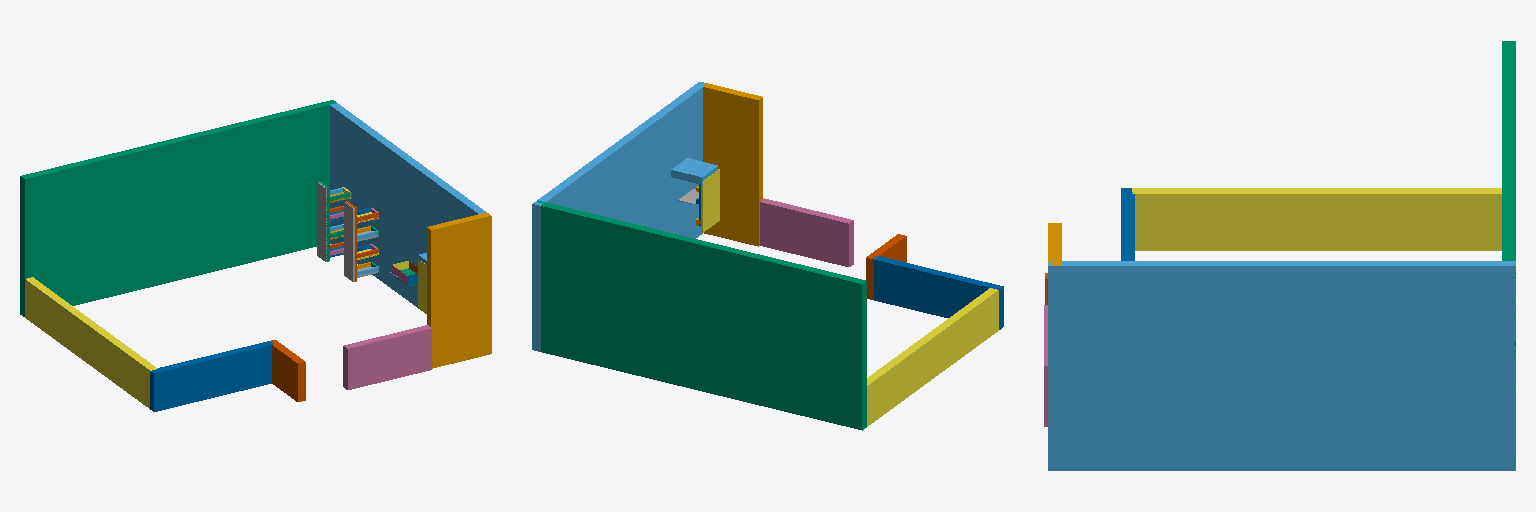
--- Facts derived from the render (not from the file) ---
3 views of the same robot in one strip: view 1: azimuth 30°, elevation 25°; view 2: azimuth 150°, elevation 25°; view 3: azimuth 270°, elevation 25° (orthographic).
Model iai_kitchen with 136 links and 135 joints (8 revolute, 16 prismatic, 111 fixed), rooted at world, posed all joints at 0.
Visible links, largest first — view 1: kitchen_wall_3, kitchen_wall_2, kitchen_wall_1, kitchen_wall_4, kitchen_wall_5, kitchen_wall_7, kitchen_wall_6, oven_area_area_right_drawer_main, oven_area_area_left_drawer_main; view 2: kitchen_wall_3, kitchen_wall_2, kitchen_wall_1, kitchen_wall_4, kitchen_wall_5, kitchen_wall_7, iai_fridge_door_block, kitchen_wall_6, iai_fridge_ceiling; view 3: kitchen_wall_2, kitchen_wall_4, kitchen_wall_3, kitchen_wall_5, kitchen_wall_1.
Link boxes in pixels (box(x1,y1,x2,y2)): kitchen_wall_3: box(20, 100, 335, 316); kitchen_wall_2: box(330, 102, 485, 313); kitchen_wall_1: box(427, 212, 491, 368); kitchen_wall_4: box(25, 277, 157, 408); kitchen_wall_5: box(150, 341, 273, 411); kitchen_wall_7: box(343, 325, 431, 389); kitchen_wall_6: box(271, 340, 305, 401); oven_area_area_right_drawer_main: box(344, 202, 354, 281); oven_area_area_left_drawer_main: box(317, 182, 326, 261); kitchen_wall_3: box(534, 200, 866, 430); kitchen_wall_2: box(532, 82, 707, 351); kitchen_wall_1: box(703, 83, 762, 246); kitchen_wall_4: box(867, 288, 998, 426); kitchen_wall_5: box(872, 256, 1003, 329); kitchen_wall_7: box(760, 198, 853, 266); iai_fridge_door_block: box(701, 169, 719, 232); kitchen_wall_6: box(866, 234, 906, 299); iai_fridge_ceiling: box(671, 158, 717, 184); kitchen_wall_2: box(1048, 261, 1515, 470); kitchen_wall_4: box(1132, 188, 1501, 250); kitchen_wall_3: box(1502, 41, 1515, 468); kitchen_wall_5: box(1121, 188, 1134, 260); kitchen_wall_1: box(1048, 223, 1061, 265).
Bounding box of the posed robot: 5.9 × 5.22 × 2.5 m (x, y, z).
0 mesh visuals loaded from 30 distinct referenced files (none loaded); not drawn: 57 (reference not matched to a file when rendering).

The robot description file, URDF, robot "iai_kitchen":
<?xml version="1.0" ?>
<!-- =================================================================================== -->
<!-- |    This document was autogenerated by xacro from [local-path]/Workspace/mujoco_ws/src/mujoco_world/iai_maps/iai_kitchen/urdf_obj/iai_kitchen_python.urdf.xacro | -->
<!-- |    EDITING THIS FILE BY HAND IS NOT RECOMMENDED                                 | -->
<!-- =================================================================================== -->
<robot name="iai_kitchen">
  <!--- FIXME THIS should NOT be here -->
  <!--
      <link name="map">
      
      <sphere_inertia radius="0" mass="0"/>
      </link>
      <iai_drawer_60_14 name="drawer_1" parent="map">
      <origin rpy="0 0 0" xyz="0 0 1"/>
      </iai_drawer_60_14>
      
      <iai_drawer_80_14 name="drawer_2" parent="map">
      <origin rpy="0 0 0" xyz="0 0 2"/>
      </iai_drawer_80_14>
      
      <iai_drawer_60_29 name="drawer_3" parent="map">
      <origin rpy="0 0 0" xyz="0 0 3"/>
      </iai_drawer_60_29>
      
      <iai_drawer_80_29 name="drawer_4" parent="map">
      <origin rpy="0 0 0" xyz="0 0 4"/>
      </iai_drawer_80_29>
      
      <iai_drawer_100_29 name="drawer_5" parent="map">
      <origin rpy="0 0 0" xyz="0 0 5"/>
      </iai_drawer_100_29>
  -->
  <!--- FIXME THIS should NOT be here -->
  <!--
  <link name="oven_footprint">
    
    <xacro:sphere_inertia radius="0" mass="0"/>
  </link>
  <iai_oven name="iai_oven" parent="oven_footprint"/>
  -->
  <!--- FIXME THIS should NOT be here -->
  <!--
      <link name="map">
      
      <sphere_inertia radius="0" mass="0"/>
      </link>
      <iai_drawer_60_14 name="drawer_1" parent="map">
      <origin rpy="0 0 0" xyz="0 0 1"/>
      </iai_drawer_60_14>
      
      <iai_drawer_80_14 name="drawer_2" parent="map">
      <origin rpy="0 0 0" xyz="0 0 2"/>
      </iai_drawer_80_14>
      
      <iai_drawer_60_29 name="drawer_3" parent="map">
      <origin rpy="0 0 0" xyz="0 0 3"/>
      </iai_drawer_60_29>
      
      <iai_drawer_80_29 name="drawer_4" parent="map">
      <origin rpy="0 0 0" xyz="0 0 4"/>
      </iai_drawer_80_29>
      
      <iai_drawer_100_29 name="drawer_5" parent="map">
      <origin rpy="0 0 0" xyz="0 0 5"/>
      </iai_drawer_100_29>
  -->
  <!--- FIXME THIS should NOT be here -->
  <!--
      <link name="map">
      
      <sphere_inertia radius="0" mass="0"/>
      </link>
      <iai_drawer_60_14 name="drawer_1" parent="map">
      <origin rpy="0 0 0" xyz="0 0 1"/>
      </iai_drawer_60_14>
      
      <iai_drawer_80_14 name="drawer_2" parent="map">
      <origin rpy="0 0 0" xyz="0 0 2"/>
      </iai_drawer_80_14>
      
      <iai_drawer_60_29 name="drawer_3" parent="map">
      <origin rpy="0 0 0" xyz="0 0 3"/>
      </iai_drawer_60_29>
      
      <iai_drawer_80_29 name="drawer_4" parent="map">
      <origin rpy="0 0 0" xyz="0 0 4"/>
      </iai_drawer_80_29>
      
      <iai_drawer_100_29 name="drawer_5" parent="map">
      <origin rpy="0 0 0" xyz="0 0 5"/>
      </iai_drawer_100_29>
  -->
  <!--- FIXME THIS should NOT be here -->
  <!--
      <link name="map">
      
      <sphere_inertia radius="0" mass="0"/>
      </link>
      <iai_drawer_60_14 name="drawer_1" parent="map">
      <origin rpy="0 0 0" xyz="0 0 1"/>
      </iai_drawer_60_14>
      
      <iai_drawer_80_14 name="drawer_2" parent="map">
      <origin rpy="0 0 0" xyz="0 0 2"/>
      </iai_drawer_80_14>
      
      <iai_drawer_60_29 name="drawer_3" parent="map">
      <origin rpy="0 0 0" xyz="0 0 3"/>
      </iai_drawer_60_29>
      
      <iai_drawer_80_29 name="drawer_4" parent="map">
      <origin rpy="0 0 0" xyz="0 0 4"/>
      </iai_drawer_80_29>
      
      <iai_drawer_100_29 name="drawer_5" parent="map">
      <origin rpy="0 0 0" xyz="0 0 5"/>
      </iai_drawer_100_29>
  -->
  <link name="room_link">
    <inertial>
      <origin rpy="0 0 0" xyz="0.0 0.0 0.0"/>
      <mass value="1"/>
      <inertia ixx="1" ixy="0.0" ixz="0.0" iyy="1" iyz="0.0" izz="1"/>
    </inertial>
  </link>
  <link name="world"/>
  <joint name="world_room_joint" type="fixed">
    <origin rpy="0 0 0" xyz="0.0 0.03 0 "/>
    <parent link="world"/>
    <child link="room_link"/>
  </joint>
  <link name="sink_area_footprint">
    <inertial>
      <origin rpy="0 0 0" xyz="0.0 0.0 0.0"/>
      <mass value="1"/>
      <inertia ixx="1" ixy="0.0" ixz="0.0" iyy="1" iyz="0.0" izz="1"/>
    </inertial>
  </link>
  <link name="sink_area">
    <inertial>
      <origin rpy="0 0 0" xyz="0.0 0.0 0.0"/>
      <mass value="1"/>
      <inertia ixx="1" ixy="0.0" ixz="0.0" iyy="1" iyz="0.0" izz="1"/>
    </inertial>
    <visual>
      <origin rpy="0 0 0" xyz="0 0 0"/>
      <geometry>
        <mesh filename="package://iai_kitchen/meshes/racks/SinkArea.dae"/>
      </geometry>
    </visual>
    <collision>
      <origin rpy="0 0 0" xyz="0 0 0"/>
      <geometry>
        <mesh filename="package://iai_kitchen/meshes/racks/SinkArea.obj"/>
      </geometry>
    </collision>
  </link>
  <joint name="sink_area_footprint_joint" type="fixed">
    <origin rpy="0 0 3.141592653589793" xyz="1.855 1.3 0"/>
    <child link="sink_area_footprint"/>
    <parent link="room_link"/>
  </joint>
  <joint name="sink_area_main_joint" type="fixed">
    <origin rpy="0 0 0" xyz="0.29 1.03 0.41"/>
    <parent link="sink_area_footprint"/>
    <child link="sink_area"/>
  </joint>
  <link name="sink_area_surface">
    <inertial>
      <origin rpy="0 0 0" xyz="0.0 0.0 0.0"/>
      <mass value="1"/>
      <inertia ixx="1" ixy="0.0" ixz="0.0" iyy="1" iyz="0.0" izz="1"/>
    </inertial>
    <collision>
      <origin rpy="0 0 0" xyz="0 -0.225 0"/>
      <geometry>
        <box size="0.575 1.6 0.02"/>
      </geometry>
    </collision>
  </link>
  <joint name="sink_area_surface_joint" type="fixed">
    <origin rpy="0 0 0" xyz="0.0 0. 0.43"/>
    <parent link="sink_area"/>
    <child link="sink_area_surface"/>
  </joint>
  <link name="sink_area_sink">
    <inertial>
      <origin rpy="0 0 0" xyz="0.0 0.0 0.0"/>
      <mass value="1"/>
      <inertia ixx="1" ixy="0.0" ixz="0.0" iyy="1" iyz="0.0" izz="1"/>
    </inertial>
    <visual>
      <origin rpy="0 0 0" xyz="0 0 0"/>
      <geometry>
        <mesh filename="package://iai_kitchen/meshes/misc/Sink.dae"/>
      </geometry>
    </visual>
    <collision>
      <origin rpy="0 0 0" xyz="0 0 0"/>
      <geometry>
        <mesh filename="package://iai_kitchen/meshes/misc/Sink.obj"/>
      </geometry>
    </collision>
  </link>
  <joint name="sink_area_sink_joint" type="fixed">
    <origin rpy="0 0 0" xyz="0.005 0.47 0.4414"/>
    <parent link="sink_area"/>
    <child link="sink_area_sink"/>
  </joint>
  <link name="sink_area_right_panel">
    <inertial>
      <origin rpy="0 0 0" xyz="0.0 0.0 0.0"/>
      <mass value="1"/>
      <inertia ixx="1" ixy="0.0" ixz="0.0" iyy="1" iyz="0.0" izz="1"/>
    </inertial>
    <visual>
      <origin rpy="0 0 0" xyz="0 0 0"/>
      <geometry>
        <mesh filename="package://iai_kitchen/meshes/drawers/Panel_60.dae"/>
      </geometry>
    </visual>
    <collision>
      <origin rpy="0 0 0" xyz="0 0 0"/>
      <geometry>
        <mesh filename="package://iai_kitchen/meshes/drawers/Panel_60.obj"/>
      </geometry>
    </collision>
  </link>
  <joint name="sink_area_right_panel_joint" type="fixed">
    <origin rpy="0 0 0" xyz="0.28 0.7 0.355 "/>
    <parent link="sink_area"/>
    <child link="sink_area_right_panel"/>
  </joint>
  <link name="sink_area_trash_drawer_main">
    <inertial>
      <origin rpy="0 0 0" xyz="0.0 0.0 0.0"/>
      <mass value="1"/>
      <inertia ixx="1" ixy="0.0" ixz="0.0" iyy="1" iyz="0.0" izz="1"/>
    </inertial>
    <visual>
      <origin rpy="0 0 0" xyz="0 0 0"/>
      <geometry>
        <mesh filename="package://iai_kitchen/meshes/drawers/Drawer_60_58.dae"/>
      </geometry>
    </visual>
    <collision>
      <origin rpy="0 0 0" xyz="0 0 0"/>
      <geometry>
        <mesh filename="package://iai_kitchen/meshes/drawers/Drawer_60_58.obj"/>
      </geometry>
    </collision>
  </link>
  <link name="sink_area_trash_drawer_handle">
    <inertial>
      <origin rpy="0 0 0" xyz="0.0 0.0 0.0"/>
      <mass value="1"/>
      <inertia ixx="1" ixy="0.0" ixz="0.0" iyy="1" iyz="0.0" izz="1"/>
    </inertial>
    <visual>
      <origin rpy="0 0 0" xyz="0 0 0"/>
      <geometry>
        <mesh filename="package://iai_kitchen/meshes/handles/Handle60.dae"/>
      </geometry>
    </visual>
    <collision>
      <origin rpy="0 0 0" xyz="0 0 0"/>
      <geometry>
        <mesh filename="package://iai_kitchen/meshes/handles/Handle60.obj"/>
      </geometry>
    </collision>
  </link>
  <joint name="sink_area_trash_drawer_main_joint" type="prismatic">
    <origin rpy="0 0 0" xyz="0.01 0.7 -0.015 "/>
    <parent link="sink_area"/>
    <child link="sink_area_trash_drawer_main"/>
    <axis xyz="1. 0. 0.0"/>
    <limit effort="300" lower="0" upper="0.48" velocity="10"/>
    <!--
          <limit effort="300" lower="0" upper="0" velocity="10"/>
      -->
  </joint>
  <joint name="sink_area_trash_drawer_handle_joint" type="fixed">
    <origin rpy="0 0 0" xyz="0.37 0 0.25"/>
    <parent link="sink_area_trash_drawer_main"/>
    <child link="sink_area_trash_drawer_handle"/>
    <axis xyz="0 0 1"/>
    <limit effort="300" lower="0" upper="1.5707963267948966" velocity="10"/>
  </joint>
  <link name="sink_area_left_upper_drawer_main">
    <inertial>
      <origin rpy="0 0 0" xyz="0.0 0.0 0.0"/>
      <mass value="1"/>
      <inertia ixx="1" ixy="0.0" ixz="0.0" iyy="1" iyz="0.0" izz="1"/>
    </inertial>
    <visual>
      <origin rpy="0 0 0" xyz="0 0 0"/>
      <geometry>
        <mesh filename="package://iai_kitchen/meshes/drawers/Drawer_80_14.dae"/>
      </geometry>
    </visual>
    <collision>
      <origin rpy="0 0 0" xyz="0 0 0"/>
      <geometry>
        <mesh filename="package://iai_kitchen/meshes/drawers/Drawer_80_14.obj"/>
      </geometry>
    </collision>
  </link>
  <link name="sink_area_left_upper_drawer_handle">
    <inertial>
      <origin rpy="0 0 0" xyz="0.0 0.0 0.0"/>
      <mass value="1"/>
      <inertia ixx="1" ixy="0.0" ixz="0.0" iyy="1" iyz="0.0" izz="1"/>
    </inertial>
    <visual>
      <origin rpy="0 0 0" xyz="0 0 0"/>
      <geometry>
        <mesh filename="package://iai_kitchen/meshes/handles/Handle80.dae"/>
      </geometry>
    </visual>
    <collision>
      <origin rpy="0 0 0" xyz="0 0 0"/>
      <geometry>
        <mesh filename="package://iai_kitchen/meshes/handles/Handle80.obj"/>
      </geometry>
    </collision>
  </link>
  <joint name="sink_area_left_upper_drawer_main_joint" type="prismatic">
    <origin rpy="0 0 0" xyz="0.01 -0.6 0.345 "/>
    <parent link="sink_area"/>
    <child link="sink_area_left_upper_drawer_main"/>
    <axis xyz="1. 0. 0.0"/>
    <limit effort="300" lower="0" upper="0.48" velocity="10"/>
    <!--
          <limit effort="300" lower="0" upper="0" velocity="10"/>
      -->
  </joint>
  <joint name="sink_area_left_upper_drawer_handle_joint" type="fixed">
    <origin rpy="0 0 0" xyz="0.3525 0 0.0175"/>
    <parent link="sink_area_left_upper_drawer_main"/>
    <child link="sink_area_left_upper_drawer_handle"/>
    <axis xyz="0 0 1"/>
    <limit effort="300" lower="0" upper="1.5707963267948966" velocity="10"/>
  </joint>
  <link name="sink_area_left_middle_drawer_main">
    <inertial>
      <origin rpy="0 0 0" xyz="0.0 0.0 0.0"/>
      <mass value="1"/>
      <inertia ixx="1" ixy="0.0" ixz="0.0" iyy="1" iyz="0.0" izz="1"/>
    </inertial>
    <visual>
      <origin rpy="0 0 0" xyz="0 0 0"/>
      <geometry>
        <mesh filename="package://iai_kitchen/meshes/drawers/Drawer_80_29.dae"/>
      </geometry>
    </visual>
    <collision>
      <origin rpy="0 0 0" xyz="0 0 0"/>
      <geometry>
        <mesh filename="package://iai_kitchen/meshes/drawers/Drawer_80_29.obj"/>
      </geometry>
    </collision>
  </link>
  <link name="sink_area_left_middle_drawer_handle">
    <inertial>
      <origin rpy="0 0 0" xyz="0.0 0.0 0.0"/>
      <mass value="1"/>
      <inertia ixx="1" ixy="0.0" ixz="0.0" iyy="1" iyz="0.0" izz="1"/>
    </inertial>
    <visual>
      <origin rpy="0 0 0" xyz="0 0 0"/>
      <geometry>
        <mesh filename="package://iai_kitchen/meshes/handles/Handle80.dae"/>
      </geometry>
    </visual>
    <collision>
      <origin rpy="0 0 0" xyz="0 0 0"/>
      <geometry>
        <mesh filename="package://iai_kitchen/meshes/handles/Handle80.obj"/>
      </geometry>
    </collision>
  </link>
  <joint name="sink_area_left_middle_drawer_main_joint" type="prismatic">
    <origin rpy="0 0 0" xyz="0.01 -0.6 0.12 "/>
    <parent link="sink_area"/>
    <child link="sink_area_left_middle_drawer_main"/>
    <axis xyz="1. 0. 0.0"/>
    <limit effort="300" lower="0" upper="0.48" velocity="10"/>
    <!--
          <limit effort="300" lower="0" upper="0" velocity="10"/>
      -->
  </joint>
  <joint name="sink_area_left_middle_drawer_handle_joint" type="fixed">
    <origin rpy="0 0 0" xyz="0.3525 0 0.11"/>
    <parent link="sink_area_left_middle_drawer_main"/>
    <child link="sink_area_left_middle_drawer_handle"/>
    <axis xyz="0 0 1"/>
    <limit effort="300" lower="0" upper="1.5707963267948966" velocity="10"/>
  </joint>
  <link name="sink_area_left_bottom_drawer_main">
    <inertial>
      <origin rpy="0 0 0" xyz="0.0 0.0 0.0"/>
      <mass value="1"/>
      <inertia ixx="1" ixy="0.0" ixz="0.0" iyy="1" iyz="0.0" izz="1"/>
    </inertial>
    <visual>
      <origin rpy="0 0 0" xyz="0 0 0"/>
      <geometry>
        <mesh filename="package://iai_kitchen/meshes/drawers/Drawer_80_29.dae"/>
      </geometry>
    </visual>
    <collision>
      <origin rpy="0 0 0" xyz="0 0 0"/>
      <geometry>
        <mesh filename="package://iai_kitchen/meshes/drawers/Drawer_80_29.obj"/>
      </geometry>
    </collision>
  </link>
  <link name="sink_area_left_bottom_drawer_handle">
    <inertial>
      <origin rpy="0 0 0" xyz="0.0 0.0 0.0"/>
      <mass value="1"/>
      <inertia ixx="1" ixy="0.0" ixz="0.0" iyy="1" iyz="0.0" izz="1"/>
    </inertial>
    <visual>
      <origin rpy="0 0 0" xyz="0 0 0"/>
      <geometry>
        <mesh filename="package://iai_kitchen/meshes/handles/Handle80.dae"/>
      </geometry>
    </visual>
    <collision>
      <origin rpy="0 0 0" xyz="0 0 0"/>
      <geometry>
        <mesh filename="package://iai_kitchen/meshes/handles/Handle80.obj"/>
      </geometry>
    </collision>
  </link>
  <joint name="sink_area_left_bottom_drawer_main_joint" type="prismatic">
    <origin rpy="0 0 0" xyz="0.01 -0.6 -0.18"/>
    <parent link="sink_area"/>
    <child link="sink_area_left_bottom_drawer_main"/>
    <axis xyz="1. 0. 0.0"/>
    <limit effort="300" lower="0" upper="0.48" velocity="10"/>
    <!--
          <limit effort="300" lower="0" upper="0" velocity="10"/>
      -->
  </joint>
  <joint name="sink_area_left_bottom_drawer_handle_joint" type="fixed">
    <origin rpy="0 0 0" xyz="0.3525 0 0.11"/>
    <parent link="sink_area_left_bottom_drawer_main"/>
    <child link="sink_area_left_bottom_drawer_handle"/>
    <axis xyz="0 0 1"/>
    <limit effort="300" lower="0" upper="1.5707963267948966" velocity="10"/>
  </joint>
  <link name="sink_area_dish_washer_main">
    <inertial>
      <origin rpy="0 0 0" xyz="0.0 0.0 0.0"/>
      <mass value="1"/>
      <inertia ixx="1" ixy="0.0" ixz="0.0" iyy="1" iyz="0.0" izz="1"/>
    </inertial>
    <visual>
      <origin rpy="0 0 0" xyz="0 0 0"/>
      <geometry>
        <mesh filename="package://iai_kitchen/meshes/misc/DishWasher.dae"/>
      </geometry>
    </visual>
    <collision>
      <origin rpy="0 0 0" xyz="0 0 0"/>
      <geometry>
        <mesh filename="package://iai_kitchen/meshes/misc/DishWasher.obj"/>
      </geometry>
    </collision>
  </link>
  <link name="sink_area_dish_washer_door">
    <inertial>
      <origin rpy="0 0 0" xyz="0.0 0.0 0.0"/>
      <mass value="1"/>
      <inertia ixx="1" ixy="0.0" ixz="0.0" iyy="1" iyz="0.0" izz="1"/>
    </inertial>
    <visual>
      <origin rpy="1.5707963267948966 0 0" xyz="0 0.055 0"/>
      <geometry>
        <mesh filename="package://iai_kitchen/meshes/misc/DishWasherDoor.dae"/>
      </geometry>
    </visual>
    <collision>
      <origin rpy="1.5707963267948966 0 0" xyz="0 0.055 0"/>
      <geometry>
        <mesh filename="package://iai_kitchen/meshes/misc/DishWasherDoor.obj"/>
      </geometry>
    </collision>
  </link>
  <link name="sink_area_dish_washer_door_handle">
    <inertial>
      <origin rpy="0 0 0" xyz="0.0 0.0 0.0"/>
      <mass value="1"/>
      <inertia ixx="1" ixy="0.0" ixz="0.0" iyy="1" iyz="0.0" izz="1"/>
    </inertial>
    <visual>
      <origin rpy="0 0 0" xyz="0 0 0"/>
      <geometry>
        <mesh filename="package://iai_kitchen/meshes/handles/Handle60.dae"/>
      </geometry>
    </visual>
    <collision>
      <origin rpy="0 0 0" xyz="0 0 0"/>
      <geometry>
        <mesh filename="package://iai_kitchen/meshes/handles/Handle60.obj"/>
      </geometry>
    </collision>
  </link>
  <!--
    <xacro:if value="simulated"/>
    -->
  <joint name="sink_area_dish_washer_main_joint" type="fixed">
    <origin rpy="0 0 0" xyz="0.01 0.1 0.06"/>
    <parent link="sink_area"/>
    <child link="sink_area_dish_washer_main"/>
  </joint>
  <!--
    <xacro:if value="${simulated}">
    <joint name="${name}_door_joint" type="revolute">
      <origin xyz="0.27 0. -0.325" rpy="${-0.5*pi} 0 0" />
      <parent link="${name}_main"/>
      <child link="${name}_door"/>
      <axis xyz="0 0 1"/>
       FIXME make closed position stable instead of forbidding opening...
      <limit lower="0" upper="0" effort="300" velocity="10"/>
    </joint>

    </xacro:if>
    -->
  <!--
    <xacro:unless value="${simulated}">
    -->
  <joint name="sink_area_dish_washer_door_joint" type="revolute">
    <origin rpy="-1.5707963267948966 0 0" xyz="0.27 0. -0.285"/>
    <parent link="sink_area_dish_washer_main"/>
    <child link="sink_area_dish_washer_door"/>
    <axis xyz="0 0 1"/>
    <!--
      <limit lower="0" upper="${0.5*pi}" effort="300" velocity="10"/>
      -->
    <limit effort="300" lower="0" upper="1.5707963267948966" velocity="10"/>
  </joint>
  <!--
    </xacro:unless>
  -->
  <joint name="sink_area_dish_washer_door_handle_joint" type="fixed">
    <origin rpy="-1.5707963267948966 0 0" xyz="0.085 -0.575 0.0"/>
    <parent link="sink_area_dish_washer_door"/>
    <child link="sink_area_dish_washer_door_handle"/>
  </joint>
  <joint name="sink_area_dish_washer_tray_main" type="prismatic">
    <origin xyz="-0.08 0 0.15"/>
    <parent link="sink_area_dish_washer_main"/>
    <child link="sink_area_dish_washer_tray_bottom"/>
    <axis xyz="1 0 0"/>
    <limit effort="300" lower="0" upper="0.48" velocity="10"/>
  </joint>
  <link name="sink_area_dish_washer_tray_bottom">
    <visual>
      <geometry>
        <box size="0.32 0.5 0.05"/>
      </geometry>
    </visual>
    <collision>
      <geometry>
        <box size="0.32 0.5 0.05"/>
      </geometry>
    </collision>
  </link>
  <link name="sink_area_dish_washer_tray_left_side">
    <visual>
      <geometry>
        <box size="0.32 0.005 0.17"/>
      </geometry>
    </visual>
    <collision>
      <geometry>
        <box size="0.32 0.005 0.17"/>
      </geometry>
    </collision>
  </link>
  <link name="sink_area_dish_washer_tray_right_side">
    <visual>
      <geometry>
        <box size="0.32 0.005 0.17"/>
      </geometry>
    </visual>
    <collision>
      <geometry>
        <box size="0.32 0.005 0.17"/>
      </geometry>
    </collision>
  </link>
  <link name="sink_area_dish_washer_tray_back_side">
    <visual>
      <geometry>
        <box size="0.005 0.5 0.17"/>
      </geometry>
    </visual>
    <collision>
      <geometry>
        <box size="0.005 0.5 0.17"/>
      </geometry>
    </collision>
  </link>
  <link name="sink_area_dish_washer_tray_front_side">
    <visual>
      <geometry>
        <box size="0.005 0.5 0.17"/>
      </geometry>
    </visual>
    <collision>
      <geometry>
        <box size="0.005 0.5 0.17"/>
      </geometry>
    </collision>
  </link>
  <joint name="sink_area_dish_washer_tray_bottom_left" type="fixed">
    <origin xyz="-0.0 -0.25 0.075"/>
    <child link="sink_area_dish_washer_tray_left_side"/>
    <parent link="sink_area_dish_washer_tray_bottom"/>
  </joint>
  <joint name="sink_area_dish_washer_tray_bottom_right" type="fixed">
    <origin xyz="-0.0 0.25 0.075"/>
    <child link="sink_area_dish_washer_tray_right_side"/>
    <parent link="sink_area_dish_washer_tray_bottom"/>
  </joint>
  <joint name="sink_area_dish_washer_tray_bottom_back" type="fixed">
    <origin xyz="-0.16 0 0.075"/>
    <child link="sink_area_dish_washer_tray_back_side"/>
    <parent link="sink_area_dish_washer_tray_bottom"/>
  </joint>
  <joint name="sink_area_dish_washer_tray_bottom_front" type="fixed">
    <origin xyz="0.16 0 0.075"/>
    <child link="sink_area_dish_washer_tray_front_side"/>
    <parent link="sink_area_dish_washer_tray_bottom"/>
  </joint>
  <joint name="sink_area_dish_washer_tray_handle_joint" type="fixed">
    <origin xyz="0.06 -0.1 -0.02"/>
    <child link="sink_area_dish_washer_tray_handle_front_side"/>
    <parent link="sink_area_dish_washer_tray_front_side"/>
  </joint>
  <link name="sink_area_dish_washer_tray_handle_left_side">
    <visual>
      <geometry>
        <box size="0.03 0.01 0.01"/>
      </geometry>
    </visual>
    <collision>
      <geometry>
        <box size="0.03 0.01 0.01"/>
      </geometry>
    </collision>
  </link>
  <link name="sink_area_dish_washer_tray_handle_right_side">
    <visual>
      <geometry>
        <box size="0.03 0.01 0.01"/>
      </geometry>
    </visual>
    <collision>
      <geometry>
        <box size="0.03 0.01 0.01"/>
      </geometry>
    </collision>
  </link>
  <link name="sink_area_dish_washer_tray_handle_front_side">
    <visual>
      <geometry>
        <box size="0.01 0.2 0.01"/>
      </geometry>
    </visual>
    <collision>
      <geometry>
        <box size="0.01 0.2 0.01"/>
      </geometry>
    </collision>
  </link>
  <joint name="sink_area_dish_washer_tray_handle_front_left_joint" type="fixed">
    <origin xyz="-0.01 -0.1 0"/>
    <child link="sink_area_dish_washer_tray_handle_left_side"/>
    <parent link="sink_area_dish_washer_tray_handle_front_side"/>
  </joint>
  <joint name="sink_area_dish_washer_tray_handle_front_right_joint" type="fixed">
    <origin xyz="-0.01 0.1 0"/>
    <child link="sink_area_dish_washer_tray_handle_right_side"/>
    <parent link="sink_area_dish_washer_tray_handle_front_side"/>
  </joint>
  <link name="oven_area_area_footprint">
    <inertial>
      <origin rpy="0 0 0" xyz="0.0 0.0 0.0"/>
      <mass value="1"/>
      <inertia ixx="1" ixy="0.0" ixz="0.0" iyy="1" iyz="0.0" izz="1"/>
    </inertial>
  </link>
  <link name="oven_area_area">
    <inertial>
      <origin rpy="0 0 0" xyz="0.0 0.0 0.0"/>
      <mass value="1"/>
      <inertia ixx="1" ixy="0.0" ixz="0.0" iyy="1" iyz="0.0" izz="1"/>
    </inertial>
    <visual>
      <origin rpy="0 0 0" xyz="0 0 0"/>
      <geometry>
        <mesh filename="package://iai_kitchen/meshes/racks/OvenArea.dae"/>
      </geometry>
    </visual>
    <collision>
      <origin rpy="0 0 0" xyz="0 0 0"/>
      <geometry>
        <mesh filename="package://iai_kitchen/meshes/racks/OvenArea.obj"/>
      </geometry>
    </collision>
  </link>
  <joint name="oven_area_footprint_joint" type="fixed">
    <origin rpy="0 0 3.141592653589793" xyz="1.845 2.5 0"/>
    <child link="oven_area_area_footprint"/>
    <parent link="room_link"/>
  </joint>
  <joint name="oven_area_main_joint" type="fixed">
    <origin rpy="0 0 0" xyz="0.29 0.6 0.755"/>
    <parent link="oven_area_area_footprint"/>
    <child link="oven_area_area"/>
  </joint>
  <!-- LINKS -->
  <link name="oven_area_oven_main">
    <inertial>
      <origin rpy="0 0 0" xyz="0.0 0.0 0.0"/>
      <mass value="1"/>
      <inertia ixx="1" ixy="0.0" ixz="0.0" iyy="1" iyz="0.0" izz="1"/>
    </inertial>
    <visual>
      <origin rpy="0 0 0" xyz="0 0 0"/>
      <geometry>
        <mesh filename="package://iai_kitchen/meshes/oven/OvenMain.dae"/>
      </geometry>
    </visual>
    <collision>
      <origin rpy="0 0 0" xyz="0 0 0"/>
      <geometry>
        <mesh filename="package://iai_kitchen/meshes/oven/OvenMain.obj"/>
      </geometry>
    </collision>
  </link>
  <link name="oven_area_oven_door">
    <inertial>
      <origin rpy="0 0 0" xyz="0.0 0.0 0.0"/>
      <mass value="1"/>
      <inertia ixx="1" ixy="0.0" ixz="0.0" iyy="1" iyz="0.0" izz="1"/>
    </inertial>
    <visual>
      <origin rpy="1.5707963267948966 0 0" xyz="0 0 0"/>
      <geometry>
        <mesh filename="package://iai_kitchen/meshes/oven/OvenDoor.dae"/>
      </geometry>
    </visual>
    <collision>
      <origin rpy="1.5707963267948966 0 0" xyz="0 0 0"/>
      <geometry>
        <mesh filename="package://iai_kitchen/meshes/oven/OvenDoor.obj"/>
      </geometry>
    </collision>
  </link>
  <link name="oven_area_oven_door_handle">
    <inertial>
      <origin rpy="0 0 0" xyz="0.0 0.0 0.0"/>
      <mass value="1"/>
      <inertia ixx="1" ixy="0.0" ixz="0.0" iyy="1" iyz="0.0" izz="1"/>
    </inertial>
    <visual>
      <origin rpy="0 0 0" xyz="0 0 0"/>
      <geometry>
        <mesh filename="package://iai_kitchen/meshes/handles/Handle60.dae"/>
      </geometry>
    </visual>
    <collision>
      <origin rpy="0 0 0" xyz="0 0 0"/>
      <geometry>
        <mesh filename="package://iai_kitchen/meshes/handles/Handle60.obj"/>
      </geometry>
    </collision>
  </link>
  <link name="oven_area_oven_panel">
    <inertial>
      <origin rpy="0 0 0" xyz="0.0 0.0 0.0"/>
      <mass value="1"/>
      <inertia ixx="1" ixy="0.0" ixz="0.0" iyy="1" iyz="0.0" izz="1"/>
    </inertial>
    <visual>
      <origin rpy="0 0 0" xyz="0 0 0"/>
      <geometry>
        <mesh filename="package://iai_kitchen/meshes/oven/OvenPanel.dae"/>
      </geometry>
    </visual>
    <collision>
      <origin rpy="0 0 0" xyz="0 0 0"/>
      <geometry>
        <mesh filename="package://iai_kitchen/meshes/oven/OvenPanel.obj"/>
      </geometry>
    </collision>
  </link>
  <!-- JOINTS -->
  <joint name="oven_area_oven_main_joint" type="fixed">
    <origin rpy="0 0 0" xyz="0.0 0.0 0.415"/>
    <parent link="oven_area_area"/>
    <child link="oven_area_oven_main"/>
  </joint>
  <joint name="oven_area_oven_door_joint" type="revolute">
    <origin rpy="-1.5707963267948966 0 0" xyz="0.2737 0. -0.2614"/>
    <parent link="oven_area_oven_main"/>
    <child link="oven_area_oven_door"/>
    <axis xyz="0 0 1"/>
    <!--
        <limit lower="0" upper="${0.5*pi}" effort="300" velocity="10"/>
        -->
    <!-- FIXME make the closed position stable -->
    <limit effort="0.03" lower="0" upper="1.5707963267948966" velocity="10"/>
    <dynamics damping="100.1"/>
  </joint>
  <gazebo reference="oven_area_oven_door_joint">
    <kp>1000000000</kp>
    <kd>1000000000</kd>
  </gazebo>
  <joint name="oven_area_oven_door_handle_joint" type="fixed">
    <origin rpy="-1.5707963267948966 0 0" xyz="0.05876 -0.39803 0."/>
    <parent link="oven_area_oven_door"/>
    <child link="oven_area_oven_door_handle"/>
    <axis xyz="0 0 1"/>
    <limit effort="300" lower="0" upper="1.5707963267948966" velocity="10"/>
  </joint>
  <joint name="oven_area_oven_panel_joint" type="fixed">
    <origin rpy="0 0 0" xyz="0.27 0 0.2449"/>
    <parent link="oven_area_oven_main"/>
    <child link="oven_area_oven_panel"/>
  </joint>
  <!--KNOBS -->
  <link name="oven_area_oven_knob_stove_2">
    <inertial>
      <origin rpy="0 0 0" xyz="0.0 0.0 0.0"/>
      <mass value="1"/>
      <inertia ixx="1" ixy="0.0" ixz="0.0" iyy="1" iyz="0.0" izz="1"/>
    </inertial>
    <visual>
      <origin rpy="0 1.5707963267948966 0" xyz="0 0 0"/>
      <geometry>
        <mesh filename="package://iai_kitchen/meshes/oven/Knob.dae"/>
      </geometry>
    </visual>
    <collision>
      <origin rpy="0 1.5707963267948966 0" xyz="0 0 0"/>
      <geometry>
        <mesh filename="package://iai_kitchen/meshes/oven/Knob.obj"/>
      </geometry>
    </collision>
  </link>
  <joint name="oven_area_oven_knob_stove_2_joint" type="revolute">
    <origin rpy="0 -1.5707963267948966 0" xyz="0 -0.14 0"/>
    <parent link="oven_area_oven_panel"/>
    <child link="oven_area_oven_knob_stove_2"/>
    <axis xyz="0 0 1"/>
    <limit effort="300" lower="0" upper="3.141592653589793" velocity="10"/>
  </joint>
  <link name="oven_area_oven_knob_stove_1">
    <inertial>
      <origin rpy="0 0 0" xyz="0.0 0.0 0.0"/>
      <mass value="1"/>
      <inertia ixx="1" ixy="0.0" ixz="0.0" iyy="1" iyz="0.0" izz="1"/>
    </inertial>
    <visual>
      <origin rpy="0 1.5707963267948966 0" xyz="0 0 0"/>
      <geometry>
        <mesh filename="package://iai_kitchen/meshes/oven/Knob.dae"/>
      </geometry>
    </visual>
    <collision>
      <origin rpy="0 1.5707963267948966 0" xyz="0 0 0"/>
      <geometry>
        <mesh filename="package://iai_kitchen/meshes/oven/Knob.obj"/>
      </geometry>
    </collision>
  </link>
  <joint name="oven_area_oven_knob_stove_1_joint" type="revolute">
    <origin rpy="0 -1.5707963267948966 0" xyz="0 -0.21 0"/>
    <parent link="oven_area_oven_panel"/>
    <child link="oven_area_oven_knob_stove_1"/>
    <axis xyz="0 0 1"/>
    <limit effort="300" lower="0" upper="3.141592653589793" velocity="10"/>
  </joint>
  <link name="oven_area_oven_knob_stove_3">
    <inertial>
      <origin rpy="0 0 0" xyz="0.0 0.0 0.0"/>
      <mass value="1"/>
      <inertia ixx="1" ixy="0.0" ixz="0.0" iyy="1" iyz="0.0" izz="1"/>
    </inertial>
    <visual>
      <origin rpy="0 1.5707963267948966 0" xyz="0 0 0"/>
      <geometry>
        <mesh filename="package://iai_kitchen/meshes/oven/Knob.dae"/>
      </geometry>
    </visual>
    <collision>
      <origin rpy="0 1.5707963267948966 0" xyz="0 0 0"/>
      <geometry>
        <mesh filename="package://iai_kitchen/meshes/oven/Knob.obj"/>
      </geometry>
    </collision>
  </link>
  <joint name="oven_area_oven_knob_stove_3_joint" type="revolute">
    <origin rpy="0 -1.5707963267948966 0" xyz="0 -0.07 0"/>
    <parent link="oven_area_oven_panel"/>
    <child link="oven_area_oven_knob_stove_3"/>
    <axis xyz="0 0 1"/>
    <limit effort="300" lower="0" upper="3.141592653589793" velocity="10"/>
  </joint>
  <link name="oven_area_oven_knob_stove_4">
    <inertial>
      <origin rpy="0 0 0" xyz="0.0 0.0 0.0"/>
      <mass value="1"/>
      <inertia ixx="1" ixy="0.0" ixz="0.0" iyy="1" iyz="0.0" izz="1"/>
    </inertial>
    <visual>
      <origin rpy="0 1.5707963267948966 0" xyz="0 0 0"/>
      <geometry>
        <mesh filename="package://iai_kitchen/meshes/oven/Knob.dae"/>
      </geometry>
    </visual>
    <collision>
      <origin rpy="0 1.5707963267948966 0" xyz="0 0 0"/>
      <geometry>
        <mesh filename="package://iai_kitchen/meshes/oven/Knob.obj"/>
      </geometry>
    </collision>
  </link>
  <joint name="oven_area_oven_knob_stove_4_joint" type="revolute">
    <origin rpy="0 -1.5707963267948966 0" xyz="0 -0.0 0"/>
    <parent link="oven_area_oven_panel"/>
    <child link="oven_area_oven_knob_stove_4"/>
    <axis xyz="0 0 1"/>
    <limit effort="300" lower="0" upper="3.141592653589793" velocity="10"/>
  </joint>
  <link name="oven_area_oven_knob_oven">
    <inertial>
      <origin rpy="0 0 0" xyz="0.0 0.0 0.0"/>
      <mass value="1"/>
      <inertia ixx="1" ixy="0.0" ixz="0.0" iyy="1" iyz="0.0" izz="1"/>
    </inertial>
    <visual>
      <origin rpy="0 1.5707963267948966 0" xyz="0 0 0"/>
      <geometry>
        <mesh filename="package://iai_kitchen/meshes/oven/Knob.dae"/>
      </geometry>
    </visual>
    <collision>
      <origin rpy="0 1.5707963267948966 0" xyz="0 0 0"/>
      <geometry>
        <mesh filename="package://iai_kitchen/meshes/oven/Knob.obj"/>
      </geometry>
    </collision>
  </link>
  <joint name="oven_area_oven_knob_oven_joint" type="revolute">
    <origin rpy="0 -1.5707963267948966 0" xyz="0 0.16 0"/>
    <parent link="oven_area_oven_panel"/>
    <child link="oven_area_oven_knob_oven"/>
    <axis xyz="0 0 1"/>
    <limit effort="300" lower="0" upper="3.141592653589793" velocity="10"/>
  </joint>
  <link name="oven_area_area_middle_upper_drawer_main">
    <inertial>
      <origin rpy="0 0 0" xyz="0.0 0.0 0.0"/>
      <mass value="1"/>
      <inertia ixx="1" ixy="0.0" ixz="0.0" iyy="1" iyz="0.0" izz="1"/>
    </inertial>
    <visual>
      <origin rpy="0 0 0" xyz="0 0 0"/>
      <geometry>
        <mesh filename="package://iai_kitchen/meshes/drawers/Drawer_60_14.dae"/>
      </geometry>
    </visual>
    <collision>
      <origin rpy="0 0 0" xyz="0 0 0"/>
      <geometry>
        <mesh filename="package://iai_kitchen/meshes/drawers/Drawer_60_14.obj"/>
      </geometry>
    </collision>
  </link>
  <link name="oven_area_area_middle_upper_drawer_handle">
    <inertial>
      <origin rpy="0 0 0" xyz="0.0 0.0 0.0"/>
      <mass value="1"/>
      <inertia ixx="1" ixy="0.0" ixz="0.0" iyy="1" iyz="0.0" izz="1"/>
    </inertial>
    <visual>
      <origin rpy="0 0 0" xyz="0 0 0"/>
      <geometry>
        <mesh filename="package://iai_kitchen/meshes/handles/Handle60.dae"/>
      </geometry>
    </visual>
    <collision>
      <origin rpy="0 0 0" xyz="0 0 0"/>
      <geometry>
        <mesh filename="package://iai_kitchen/meshes/handles/Handle60.obj"/>
      </geometry>
    </collision>
  </link>
  <joint name="oven_area_area_middle_upper_drawer_main_joint" type="prismatic">
    <origin rpy="0 0 0" xyz="0.0 -0. 0.045 "/>
    <parent link="oven_area_area"/>
    <child link="oven_area_area_middle_upper_drawer_main"/>
    <axis xyz="1. 0. 0.0"/>
    <limit effort="300" lower="0" upper="0.48" velocity="10"/>
    <!--
          <limit effort="300" lower="0" upper="0" velocity="10"/>
      -->
  </joint>
  <joint name="oven_area_area_middle_upper_drawer_handle_joint" type="fixed">
    <origin rpy="0 0 0" xyz="0.3525 0 0.0175"/>
    <parent link="oven_area_area_middle_upper_drawer_main"/>
    <child link="oven_area_area_middle_upper_drawer_handle"/>
    <axis xyz="0 0 1"/>
    <limit effort="300" lower="0" upper="1.5707963267948966" velocity="10"/>
  </joint>
  <link name="oven_area_area_middle_lower_drawer_main">
    <inertial>
      <origin rpy="0 0 0" xyz="0.0 0.0 0.0"/>
      <mass value="1"/>
      <inertia ixx="1" ixy="0.0" ixz="0.0" iyy="1" iyz="0.0" izz="1"/>
    </inertial>
    <visual>
      <origin rpy="0 0 0" xyz="0 0 0"/>
      <geometry>
        <mesh filename="package://iai_kitchen/meshes/drawers/Drawer_60_58.dae"/>
      </geometry>
    </visual>
    <collision>
      <origin rpy="0 0 0" xyz="0 0 0"/>
      <geometry>
        <mesh filename="package://iai_kitchen/meshes/drawers/Drawer_60_58.obj"/>
      </geometry>
    </collision>
  </link>
  <link name="oven_area_area_middle_lower_drawer_handle">
    <inertial>
      <origin rpy="0 0 0" xyz="0.0 0.0 0.0"/>
      <mass value="1"/>
      <inertia ixx="1" ixy="0.0" ixz="0.0" iyy="1" iyz="0.0" izz="1"/>
    </inertial>
    <visual>
      <origin rpy="0 0 0" xyz="0 0 0"/>
      <geometry>
        <mesh filename="package://iai_kitchen/meshes/handles/Handle60.dae"/>
      </geometry>
    </visual>
    <collision>
      <origin rpy="0 0 0" xyz="0 0 0"/>
      <geometry>
        <mesh filename="package://iai_kitchen/meshes/handles/Handle60.obj"/>
      </geometry>
    </collision>
  </link>
  <joint name="oven_area_area_middle_lower_drawer_main_joint" type="prismatic">
    <origin rpy="0 0 0" xyz="0.0 -0. -0.315 "/>
    <parent link="oven_area_area"/>
    <child link="oven_area_area_middle_lower_drawer_main"/>
    <axis xyz="1. 0. 0.0"/>
    <limit effort="300" lower="0" upper="0.48" velocity="10"/>
    <!--
          <limit effort="300" lower="0" upper="0" velocity="10"/>
      -->
  </joint>
  <joint name="oven_area_area_middle_lower_drawer_handle_joint" type="fixed">
    <origin rpy="0 0 0" xyz="0.37 0 0.25"/>
    <parent link="oven_area_area_middle_lower_drawer_main"/>
    <child link="oven_area_area_middle_lower_drawer_handle"/>
    <axis xyz="0 0 1"/>
    <limit effort="300" lower="0" upper="1.5707963267948966" velocity="10"/>
  </joint>
  <joint name="oven_area_area_left_drawer_main_joint" type="prismatic">
    <origin rpy="0 0 0" xyz="0.29 -0.45 0.07 "/>
    <parent link="oven_area_area"/>
    <child link="oven_area_area_left_drawer_main"/>
    <axis xyz="1. 0. 0.0"/>
    <limit effort="300" lower="0" upper="0.48" velocity="10"/>
  </joint>
  <link name="oven_area_area_left_drawer_main">
    <inertial>
      <origin rpy="0 0 0" xyz="0.0 0.0 0.0"/>
      <mass value="1"/>
      <inertia ixx="1" ixy="0.0" ixz="0.0" iyy="1" iyz="0.0" izz="1"/>
    </inertial>
    <visual>
      <origin rpy="0 0 0" xyz="0 0 0"/>
      <geometry>
        <box size="0.025 0.3 1.33"/>
      </geometry>
      <material name="KitchenLightGray">
        <color rgba="0.7 0.7 0.7 1.0"/>
      </material>
    </visual>
    <collision>
      <origin rpy="0 0 0" xyz="0 0 0"/>
      <geometry>
        <box size="0.025 0.3 1.33"/>
      </geometry>
    </collision>
  </link>
  <joint name="oven_area_area_left_drawer_main_padding_joint" type="fixed">
    <parent link="oven_area_area_left_drawer_main"/>
    <child link="oven_area_area_left_drawer_main_padding"/>
    <origin rpy="0 0 0" xyz="-0.03 0.0 0.0"/>
  </joint>
  <link name="oven_area_area_left_drawer_main_padding">
    <inertial>
      <origin rpy="0 0 0" xyz="0.0 0.0 0.0"/>
      <mass value="1"/>
      <inertia ixx="1" ixy="0.0" ixz="0.0" iyy="1" iyz="0.0" izz="1"/>
    </inertial>
    <visual>
      <origin rpy="0 0 0" xyz="0 0 0"/>
      <geometry>
        <box size="0.06 0.3 1.33"/>
      </geometry>
    </visual>
    <collision>
      <origin rpy="0 0 0" xyz="0 0 0"/>
      <geometry>
        <box size="0.06 0.3 1.33"/>
      </geometry>
    </collision>
  </link>
  <joint name="oven_area_area_left_drawer_handle_joint" type="fixed">
    <origin rpy="-1.5707963267948966 0 0" xyz="0.08 0.0 0.05"/>
    <parent link="oven_area_area_left_drawer_main"/>
    <child link="oven_area_area_left_drawer_handle"/>
  </joint>
  <link name="oven_area_area_left_drawer_handle">
    <inertial>
      <origin rpy="0 0 0" xyz="0.0 0.0 0.0"/>
      <mass value="1"/>
      <inertia ixx="1" ixy="0.0" ixz="0.0" iyy="1" iyz="0.0" izz="1"/>
    </inertial>
    <visual>
      <origin rpy="1.5707963267948966 0 0" xyz="0 0 0"/>
      <geometry>
        <mesh filename="package://iai_kitchen/meshes/handles/VHandle130.dae"/>
      </geometry>
    </visual>
    <collision>
      <origin rpy="1.5707963267948966 0 0" xyz="0 0 0"/>
      <geometry>
        <mesh filename="package://iai_kitchen/meshes/handles/VHandle130.obj"/>
      </geometry>
    </collision>
  </link>
  <link name="oven_area_area_left_drawer_board_0_link">
    <inertial>
      <origin rpy="0 0 0" xyz="0.0 0.0 0.0"/>
      <mass value="1"/>
      <inertia ixx="1" ixy="0.0" ixz="0.0" iyy="1" iyz="0.0" izz="1"/>
    </inertial>
    <visual>
      <origin rpy="0 0 0" xyz="0 0 0"/>
      <geometry>
        <box size="0.49 0.25 0.036"/>
      </geometry>
    </visual>
    <collision>
      <origin rpy="0 0 0" xyz="0 0 0"/>
      <geometry>
        <box size="0.49 0.25 0.036"/>
      </geometry>
    </collision>
  </link>
  <joint name="oven_area_area_left_drawer_board_0_joint" type="fixed">
    <origin xyz="-0.25 0 -0.6"/>
    <parent link="oven_area_area_left_drawer_main"/>
    <child link="oven_area_area_left_drawer_board_0_link"/>
  </joint>
  <link name="oven_area_area_left_drawer_barrier_0_right_link">
    <inertial>
      <origin rpy="0 0 0" xyz="0.0 0.0 0.0"/>
      <mass value="1"/>
      <inertia ixx="1" ixy="0.0" ixz="0.0" iyy="1" iyz="0.0" izz="1"/>
    </inertial>
    <visual>
      <origin rpy="0 0 0" xyz="0 0 0"/>
      <geometry>
        <box size="0.49 0.036 0.1"/>
      </geometry>
    </visual>
    <collision>
      <origin rpy="0 0 0" xyz="0 0 0"/>
      <geometry>
        <box size="0.49 0.036 0.1"/>
      </geometry>
    </collision>
  </link>
  <joint name="oven_area_area_left_drawer_barrier_0_right_joint" type="fixed">
    <origin xyz="-0.25 -0.107 -0.568"/>
    <parent link="oven_area_area_left_drawer_main"/>
    <child link="oven_area_area_left_drawer_barrier_0_right_link"/>
  </joint>
  <link name="oven_area_area_left_drawer_barrier_0_left_link">
    <inertial>
      <origin rpy="0 0 0" xyz="0.0 0.0 0.0"/>
      <mass value="1"/>
      <inertia ixx="1" ixy="0.0" ixz="0.0" iyy="1" iyz="0.0" izz="1"/>
    </inertial>
    <visual>
      <origin rpy="0 0 0" xyz="0 0 0"/>
      <geometry>
        <box size="0.49 0.036 0.1"/>
      </geometry>
    </visual>
    <collision>
      <origin rpy="0 0 0" xyz="0 0 0"/>
      <geometry>
        <box size="0.49 0.036 0.1"/>
      </geometry>
    </collision>
  </link>
  <joint name="oven_area_area_left_drawer_barrier_0_left_joint" type="fixed">
    <origin xyz="-0.25 0.107 -0.568"/>
    <parent link="oven_area_area_left_drawer_main"/>
    <child link="oven_area_area_left_drawer_barrier_0_left_link"/>
  </joint>
  <link name="oven_area_area_left_drawer_barrier_0_back_link">
    <inertial>
      <origin rpy="0 0 0" xyz="0.0 0.0 0.0"/>
      <mass value="1"/>
      <inertia ixx="1" ixy="0.0" ixz="0.0" iyy="1" iyz="0.0" izz="1"/>
    </inertial>
    <visual>
      <origin rpy="0 0 0" xyz="0 0 0"/>
      <geometry>
        <box size="0.036 0.25 0.1"/>
      </geometry>
    </visual>
    <collision>
      <origin rpy="0 0 0" xyz="0 0 0"/>
      <geometry>
        <box size="0.036 0.25 0.1"/>
      </geometry>
    </collision>
  </link>
  <joint name="oven_area_area_left_drawer_barrier_0_back_joint" type="fixed">
    <origin xyz="-0.477 0 -0.568"/>
    <parent link="oven_area_area_left_drawer_main"/>
    <child link="oven_area_area_left_drawer_barrier_0_back_link"/>
  </joint>
  <link name="oven_area_area_left_drawer_board_1_link">
    <inertial>
      <origin rpy="0 0 0" xyz="0.0 0.0 0.0"/>
      <mass value="1"/>
      <inertia ixx="1" ixy="0.0" ixz="0.0" iyy="1" iyz="0.0" izz="1"/>
    </inertial>
    <visual>
      <origin rpy="0 0 0" xyz="0 0 0"/>
      <geometry>
        <box size="0.49 0.25 0.036"/>
      </geometry>
    </visual>
    <collision>
      <origin rpy="0 0 0" xyz="0 0 0"/>
      <geometry>
        <box size="0.49 0.25 0.036"/>
      </geometry>
    </collision>
  </link>
  <joint name="oven_area_area_left_drawer_board_1_joint" type="fixed">
    <origin xyz="-0.25 0 -0.28"/>
    <parent link="oven_area_area_left_drawer_main"/>
    <child link="oven_area_area_left_drawer_board_1_link"/>
  </joint>
  <link name="oven_area_area_left_drawer_barrier_1_right_link">
    <inertial>
      <origin rpy="0 0 0" xyz="0.0 0.0 0.0"/>
      <mass value="1"/>
      <inertia ixx="1" ixy="0.0" ixz="0.0" iyy="1" iyz="0.0" izz="1"/>
    </inertial>
    <visual>
      <origin rpy="0 0 0" xyz="0 0 0"/>
      <geometry>
        <box size="0.49 0.036 0.1"/>
      </geometry>
    </visual>
    <collision>
      <origin rpy="0 0 0" xyz="0 0 0"/>
      <geometry>
        <box size="0.49 0.036 0.1"/>
      </geometry>
    </collision>
  </link>
  <joint name="oven_area_area_left_drawer_barrier_1_right_joint" type="fixed">
    <origin xyz="-0.25 -0.107 -0.24800000000000003"/>
    <parent link="oven_area_area_left_drawer_main"/>
    <child link="oven_area_area_left_drawer_barrier_1_right_link"/>
  </joint>
  <link name="oven_area_area_left_drawer_barrier_1_left_link">
    <inertial>
      <origin rpy="0 0 0" xyz="0.0 0.0 0.0"/>
      <mass value="1"/>
      <inertia ixx="1" ixy="0.0" ixz="0.0" iyy="1" iyz="0.0" izz="1"/>
    </inertial>
    <visual>
      <origin rpy="0 0 0" xyz="0 0 0"/>
      <geometry>
        <box size="0.49 0.036 0.1"/>
      </geometry>
    </visual>
    <collision>
      <origin rpy="0 0 0" xyz="0 0 0"/>
      <geometry>
        <box size="0.49 0.036 0.1"/>
      </geometry>
    </collision>
  </link>
  <joint name="oven_area_area_left_drawer_barrier_1_left_joint" type="fixed">
    <origin xyz="-0.25 0.107 -0.24800000000000003"/>
    <parent link="oven_area_area_left_drawer_main"/>
    <child link="oven_area_area_left_drawer_barrier_1_left_link"/>
  </joint>
  <link name="oven_area_area_left_drawer_barrier_1_back_link">
    <inertial>
      <origin rpy="0 0 0" xyz="0.0 0.0 0.0"/>
      <mass value="1"/>
      <inertia ixx="1" ixy="0.0" ixz="0.0" iyy="1" iyz="0.0" izz="1"/>
    </inertial>
    <visual>
      <origin rpy="0 0 0" xyz="0 0 0"/>
      <geometry>
        <box size="0.036 0.25 0.1"/>
      </geometry>
    </visual>
    <collision>
      <origin rpy="0 0 0" xyz="0 0 0"/>
      <geometry>
        <box size="0.036 0.25 0.1"/>
      </geometry>
    </collision>
  </link>
  <joint name="oven_area_area_left_drawer_barrier_1_back_joint" type="fixed">
    <origin xyz="-0.477 0 -0.24800000000000003"/>
    <parent link="oven_area_area_left_drawer_main"/>
    <child link="oven_area_area_left_drawer_barrier_1_back_link"/>
  </joint>
  <link name="oven_area_area_left_drawer_board_2_link">
    <inertial>
      <origin rpy="0 0 0" xyz="0.0 0.0 0.0"/>
      <mass value="1"/>
      <inertia ixx="1" ixy="0.0" ixz="0.0" iyy="1" iyz="0.0" izz="1"/>
    </inertial>
    <visual>
      <origin rpy="0 0 0" xyz="0 0 0"/>
      <geometry>
        <box size="0.49 0.25 0.036"/>
      </geometry>
    </visual>
    <collision>
      <origin rpy="0 0 0" xyz="0 0 0"/>
      <geometry>
        <box size="0.49 0.25 0.036"/>
      </geometry>
    </collision>
  </link>
  <joint name="oven_area_area_left_drawer_board_2_joint" type="fixed">
    <origin xyz="-0.25 0 0.05"/>
    <parent link="oven_area_area_left_drawer_main"/>
    <child link="oven_area_area_left_drawer_board_2_link"/>
  </joint>
  <link name="oven_area_area_left_drawer_barrier_2_right_link">
    <inertial>
      <origin rpy="0 0 0" xyz="0.0 0.0 0.0"/>
      <mass value="1"/>
      <inertia ixx="1" ixy="0.0" ixz="0.0" iyy="1" iyz="0.0" izz="1"/>
    </inertial>
    <visual>
      <origin rpy="0 0 0" xyz="0 0 0"/>
      <geometry>
        <box size="0.49 0.036 0.1"/>
      </geometry>
    </visual>
    <collision>
      <origin rpy="0 0 0" xyz="0 0 0"/>
      <geometry>
        <box size="0.49 0.036 0.1"/>
      </geometry>
    </collision>
  </link>
  <joint name="oven_area_area_left_drawer_barrier_2_right_joint" type="fixed">
    <origin xyz="-0.25 -0.107 0.082"/>
    <parent link="oven_area_area_left_drawer_main"/>
    <child link="oven_area_area_left_drawer_barrier_2_right_link"/>
  </joint>
  <link name="oven_area_area_left_drawer_barrier_2_left_link">
    <inertial>
      <origin rpy="0 0 0" xyz="0.0 0.0 0.0"/>
      <mass value="1"/>
      <inertia ixx="1" ixy="0.0" ixz="0.0" iyy="1" iyz="0.0" izz="1"/>
    </inertial>
    <visual>
      <origin rpy="0 0 0" xyz="0 0 0"/>
      <geometry>
        <box size="0.49 0.036 0.1"/>
      </geometry>
    </visual>
    <collision>
      <origin rpy="0 0 0" xyz="0 0 0"/>
      <geometry>
        <box size="0.49 0.036 0.1"/>
      </geometry>
    </collision>
  </link>
  <joint name="oven_area_area_left_drawer_barrier_2_left_joint" type="fixed">
    <origin xyz="-0.25 0.107 0.082"/>
    <parent link="oven_area_area_left_drawer_main"/>
    <child link="oven_area_area_left_drawer_barrier_2_left_link"/>
  </joint>
  <link name="oven_area_area_left_drawer_barrier_2_back_link">
    <inertial>
      <origin rpy="0 0 0" xyz="0.0 0.0 0.0"/>
      <mass value="1"/>
      <inertia ixx="1" ixy="0.0" ixz="0.0" iyy="1" iyz="0.0" izz="1"/>
    </inertial>
    <visual>
      <origin rpy="0 0 0" xyz="0 0 0"/>
      <geometry>
        <box size="0.036 0.25 0.1"/>
      </geometry>
    </visual>
    <collision>
      <origin rpy="0 0 0" xyz="0 0 0"/>
      <geometry>
        <box size="0.036 0.25 0.1"/>
      </geometry>
    </collision>
  </link>
  <joint name="oven_area_area_left_drawer_barrier_2_back_joint" type="fixed">
    <origin xyz="-0.477 0 0.082"/>
    <parent link="oven_area_area_left_drawer_main"/>
    <child link="oven_area_area_left_drawer_barrier_2_back_link"/>
  </joint>
  <link name="oven_area_area_left_drawer_board_3_link">
    <inertial>
      <origin rpy="0 0 0" xyz="0.0 0.0 0.0"/>
      <mass value="1"/>
      <inertia ixx="1" ixy="0.0" ixz="0.0" iyy="1" iyz="0.0" izz="1"/>
    </inertial>
    <visual>
      <origin rpy="0 0 0" xyz="0 0 0"/>
      <geometry>
        <box size="0.49 0.25 0.036"/>
      </geometry>
    </visual>
    <collision>
      <origin rpy="0 0 0" xyz="0 0 0"/>
      <geometry>
        <box size="0.49 0.25 0.036"/>
      </geometry>
    </collision>
  </link>
  <joint name="oven_area_area_left_drawer_board_3_joint" type="fixed">
    <origin xyz="-0.25 0 0.38"/>
    <parent link="oven_area_area_left_drawer_main"/>
    <child link="oven_area_area_left_drawer_board_3_link"/>
  </joint>
  <link name="oven_area_area_left_drawer_barrier_3_right_link">
    <inertial>
      <origin rpy="0 0 0" xyz="0.0 0.0 0.0"/>
      <mass value="1"/>
      <inertia ixx="1" ixy="0.0" ixz="0.0" iyy="1" iyz="0.0" izz="1"/>
    </inertial>
    <visual>
      <origin rpy="0 0 0" xyz="0 0 0"/>
      <geometry>
        <box size="0.49 0.036 0.1"/>
      </geometry>
    </visual>
    <collision>
      <origin rpy="0 0 0" xyz="0 0 0"/>
      <geometry>
        <box size="0.49 0.036 0.1"/>
      </geometry>
    </collision>
  </link>
  <joint name="oven_area_area_left_drawer_barrier_3_right_joint" type="fixed">
    <origin xyz="-0.25 -0.107 0.412"/>
    <parent link="oven_area_area_left_drawer_main"/>
    <child link="oven_area_area_left_drawer_barrier_3_right_link"/>
  </joint>
  <link name="oven_area_area_left_drawer_barrier_3_left_link">
    <inertial>
      <origin rpy="0 0 0" xyz="0.0 0.0 0.0"/>
      <mass value="1"/>
      <inertia ixx="1" ixy="0.0" ixz="0.0" iyy="1" iyz="0.0" izz="1"/>
    </inertial>
    <visual>
      <origin rpy="0 0 0" xyz="0 0 0"/>
      <geometry>
        <box size="0.49 0.036 0.1"/>
      </geometry>
    </visual>
    <collision>
      <origin rpy="0 0 0" xyz="0 0 0"/>
      <geometry>
        <box size="0.49 0.036 0.1"/>
      </geometry>
    </collision>
  </link>
  <joint name="oven_area_area_left_drawer_barrier_3_left_joint" type="fixed">
    <origin xyz="-0.25 0.107 0.412"/>
    <parent link="oven_area_area_left_drawer_main"/>
    <child link="oven_area_area_left_drawer_barrier_3_left_link"/>
  </joint>
  <link name="oven_area_area_left_drawer_barrier_3_back_link">
    <inertial>
      <origin rpy="0 0 0" xyz="0.0 0.0 0.0"/>
      <mass value="1"/>
      <inertia ixx="1" ixy="0.0" ixz="0.0" iyy="1" iyz="0.0" izz="1"/>
    </inertial>
    <visual>
      <origin rpy="0 0 0" xyz="0 0 0"/>
      <geometry>
        <box size="0.036 0.25 0.1"/>
      </geometry>
    </visual>
    <collision>
      <origin rpy="0 0 0" xyz="0 0 0"/>
      <geometry>
        <box size="0.036 0.25 0.1"/>
      </geometry>
    </collision>
  </link>
  <joint name="oven_area_area_left_drawer_barrier_3_back_joint" type="fixed">
    <origin xyz="-0.477 0 0.412"/>
    <parent link="oven_area_area_left_drawer_main"/>
    <child link="oven_area_area_left_drawer_barrier_3_back_link"/>
  </joint>
  <joint name="oven_area_area_right_drawer_main_joint" type="prismatic">
    <origin rpy="0 0 0" xyz="0.29 0.45 0.07"/>
    <parent link="oven_area_area"/>
    <child link="oven_area_area_right_drawer_main"/>
    <axis xyz="1. 0. 0.0"/>
    <limit effort="300" lower="0" upper="0.48" velocity="10"/>
  </joint>
  <link name="oven_area_area_right_drawer_main">
    <inertial>
      <origin rpy="0 0 0" xyz="0.0 0.0 0.0"/>
      <mass value="1"/>
      <inertia ixx="1" ixy="0.0" ixz="0.0" iyy="1" iyz="0.0" izz="1"/>
    </inertial>
    <visual>
      <origin rpy="0 0 0" xyz="0 0 0"/>
      <geometry>
        <box size="0.025 0.3 1.33"/>
      </geometry>
      <material name="KitchenLightGray">
        <color rgba="0.7 0.7 0.7 1.0"/>
      </material>
    </visual>
    <collision>
      <origin rpy="0 0 0" xyz="0 0 0"/>
      <geometry>
        <box size="0.025 0.3 1.33"/>
      </geometry>
    </collision>
  </link>
  <joint name="oven_area_area_right_drawer_main_padding_joint" type="fixed">
    <parent link="oven_area_area_right_drawer_main"/>
    <child link="oven_area_area_right_drawer_main_padding"/>
    <origin rpy="0 0 0" xyz="-0.03 0.0 0.0"/>
  </joint>
  <link name="oven_area_area_right_drawer_main_padding">
    <inertial>
      <origin rpy="0 0 0" xyz="0.0 0.0 0.0"/>
      <mass value="1"/>
      <inertia ixx="1" ixy="0.0" ixz="0.0" iyy="1" iyz="0.0" izz="1"/>
    </inertial>
    <visual>
      <origin rpy="0 0 0" xyz="0 0 0"/>
      <geometry>
        <box size="0.06 0.3 1.33"/>
      </geometry>
    </visual>
    <collision>
      <origin rpy="0 0 0" xyz="0 0 0"/>
      <geometry>
        <box size="0.06 0.3 1.33"/>
      </geometry>
    </collision>
  </link>
  <joint name="oven_area_area_right_drawer_handle_joint" type="fixed">
    <origin rpy="-1.5707963267948966 0 0" xyz="0.08 0.0 0.05"/>
    <parent link="oven_area_area_right_drawer_main"/>
    <child link="oven_area_area_right_drawer_handle"/>
  </joint>
  <link name="oven_area_area_right_drawer_handle">
    <inertial>
      <origin rpy="0 0 0" xyz="0.0 0.0 0.0"/>
      <mass value="1"/>
      <inertia ixx="1" ixy="0.0" ixz="0.0" iyy="1" iyz="0.0" izz="1"/>
    </inertial>
    <visual>
      <origin rpy="1.5707963267948966 0 0" xyz="0 0 0"/>
      <geometry>
        <mesh filename="package://iai_kitchen/meshes/handles/VHandle130.dae"/>
      </geometry>
    </visual>
    <collision>
      <origin rpy="1.5707963267948966 0 0" xyz="0 0 0"/>
      <geometry>
        <mesh filename="package://iai_kitchen/meshes/handles/VHandle130.obj"/>
      </geometry>
    </collision>
  </link>
  <link name="oven_area_area_right_drawer_board_0_link">
    <inertial>
      <origin rpy="0 0 0" xyz="0.0 0.0 0.0"/>
      <mass value="1"/>
      <inertia ixx="1" ixy="0.0" ixz="0.0" iyy="1" iyz="0.0" izz="1"/>
    </inertial>
    <visual>
      <origin rpy="0 0 0" xyz="0 0 0"/>
      <geometry>
        <box size="0.49 0.25 0.036"/>
      </geometry>
    </visual>
    <collision>
      <origin rpy="0 0 0" xyz="0 0 0"/>
      <geometry>
        <box size="0.49 0.25 0.036"/>
      </geometry>
    </collision>
  </link>
  <joint name="oven_area_area_right_drawer_board_0_joint" type="fixed">
    <origin xyz="-0.25 0 -0.6"/>
    <parent link="oven_area_area_right_drawer_main"/>
    <child link="oven_area_area_right_drawer_board_0_link"/>
  </joint>
  <link name="oven_area_area_right_drawer_barrier_0_right_link">
    <inertial>
      <origin rpy="0 0 0" xyz="0.0 0.0 0.0"/>
      <mass value="1"/>
      <inertia ixx="1" ixy="0.0" ixz="0.0" iyy="1" iyz="0.0" izz="1"/>
    </inertial>
    <visual>
      <origin rpy="0 0 0" xyz="0 0 0"/>
      <geometry>
        <box size="0.49 0.036 0.1"/>
      </geometry>
    </visual>
    <collision>
      <origin rpy="0 0 0" xyz="0 0 0"/>
      <geometry>
        <box size="0.49 0.036 0.1"/>
      </geometry>
    </collision>
  </link>
  <joint name="oven_area_area_right_drawer_barrier_0_right_joint" type="fixed">
    <origin xyz="-0.25 -0.107 -0.568"/>
    <parent link="oven_area_area_right_drawer_main"/>
    <child link="oven_area_area_right_drawer_barrier_0_right_link"/>
  </joint>
  <link name="oven_area_area_right_drawer_barrier_0_left_link">
    <inertial>
      <origin rpy="0 0 0" xyz="0.0 0.0 0.0"/>
      <mass value="1"/>
      <inertia ixx="1" ixy="0.0" ixz="0.0" iyy="1" iyz="0.0" izz="1"/>
    </inertial>
    <visual>
      <origin rpy="0 0 0" xyz="0 0 0"/>
      <geometry>
        <box size="0.49 0.036 0.1"/>
      </geometry>
    </visual>
    <collision>
      <origin rpy="0 0 0" xyz="0 0 0"/>
      <geometry>
        <box size="0.49 0.036 0.1"/>
      </geometry>
    </collision>
  </link>
  <joint name="oven_area_area_right_drawer_barrier_0_left_joint" type="fixed">
    <origin xyz="-0.25 0.107 -0.568"/>
    <parent link="oven_area_area_right_drawer_main"/>
    <child link="oven_area_area_right_drawer_barrier_0_left_link"/>
  </joint>
  <link name="oven_area_area_right_drawer_barrier_0_back_link">
    <inertial>
      <origin rpy="0 0 0" xyz="0.0 0.0 0.0"/>
      <mass value="1"/>
      <inertia ixx="1" ixy="0.0" ixz="0.0" iyy="1" iyz="0.0" izz="1"/>
    </inertial>
    <visual>
      <origin rpy="0 0 0" xyz="0 0 0"/>
      <geometry>
        <box size="0.036 0.25 0.1"/>
      </geometry>
    </visual>
    <collision>
      <origin rpy="0 0 0" xyz="0 0 0"/>
      <geometry>
        <box size="0.036 0.25 0.1"/>
      </geometry>
    </collision>
  </link>
  <joint name="oven_area_area_right_drawer_barrier_0_back_joint" type="fixed">
    <origin xyz="-0.477 0 -0.568"/>
    <parent link="oven_area_area_right_drawer_main"/>
    <child link="oven_area_area_right_drawer_barrier_0_back_link"/>
  </joint>
  <link name="oven_area_area_right_drawer_board_1_link">
    <inertial>
      <origin rpy="0 0 0" xyz="0.0 0.0 0.0"/>
      <mass value="1"/>
      <inertia ixx="1" ixy="0.0" ixz="0.0" iyy="1" iyz="0.0" izz="1"/>
    </inertial>
    <visual>
      <origin rpy="0 0 0" xyz="0 0 0"/>
      <geometry>
        <box size="0.49 0.25 0.036"/>
      </geometry>
    </visual>
    <collision>
      <origin rpy="0 0 0" xyz="0 0 0"/>
      <geometry>
        <box size="0.49 0.25 0.036"/>
      </geometry>
    </collision>
  </link>
  <joint name="oven_area_area_right_drawer_board_1_joint" type="fixed">
    <origin xyz="-0.25 0 -0.28"/>
    <parent link="oven_area_area_right_drawer_main"/>
    <child link="oven_area_area_right_drawer_board_1_link"/>
  </joint>
  <link name="oven_area_area_right_drawer_barrier_1_right_link">
    <inertial>
      <origin rpy="0 0 0" xyz="0.0 0.0 0.0"/>
      <mass value="1"/>
      <inertia ixx="1" ixy="0.0" ixz="0.0" iyy="1" iyz="0.0" izz="1"/>
    </inertial>
    <visual>
      <origin rpy="0 0 0" xyz="0 0 0"/>
      <geometry>
        <box size="0.49 0.036 0.1"/>
      </geometry>
    </visual>
    <collision>
      <origin rpy="0 0 0" xyz="0 0 0"/>
      <geometry>
        <box size="0.49 0.036 0.1"/>
      </geometry>
    </collision>
  </link>
  <joint name="oven_area_area_right_drawer_barrier_1_right_joint" type="fixed">
    <origin xyz="-0.25 -0.107 -0.24800000000000003"/>
    <parent link="oven_area_area_right_drawer_main"/>
    <child link="oven_area_area_right_drawer_barrier_1_right_link"/>
  </joint>
  <link name="oven_area_area_right_drawer_barrier_1_left_link">
    <inertial>
      <origin rpy="0 0 0" xyz="0.0 0.0 0.0"/>
      <mass value="1"/>
      <inertia ixx="1" ixy="0.0" ixz="0.0" iyy="1" iyz="0.0" izz="1"/>
    </inertial>
    <visual>
      <origin rpy="0 0 0" xyz="0 0 0"/>
      <geometry>
        <box size="0.49 0.036 0.1"/>
      </geometry>
    </visual>
    <collision>
      <origin rpy="0 0 0" xyz="0 0 0"/>
      <geometry>
        <box size="0.49 0.036 0.1"/>
      </geometry>
    </collision>
  </link>
  <joint name="oven_area_area_right_drawer_barrier_1_left_joint" type="fixed">
    <origin xyz="-0.25 0.107 -0.24800000000000003"/>
    <parent link="oven_area_area_right_drawer_main"/>
    <child link="oven_area_area_right_drawer_barrier_1_left_link"/>
  </joint>
  <link name="oven_area_area_right_drawer_barrier_1_back_link">
    <inertial>
      <origin rpy="0 0 0" xyz="0.0 0.0 0.0"/>
      <mass value="1"/>
      <inertia ixx="1" ixy="0.0" ixz="0.0" iyy="1" iyz="0.0" izz="1"/>
    </inertial>
    <visual>
      <origin rpy="0 0 0" xyz="0 0 0"/>
      <geometry>
        <box size="0.036 0.25 0.1"/>
      </geometry>
    </visual>
    <collision>
      <origin rpy="0 0 0" xyz="0 0 0"/>
      <geometry>
        <box size="0.036 0.25 0.1"/>
      </geometry>
    </collision>
  </link>
  <joint name="oven_area_area_right_drawer_barrier_1_back_joint" type="fixed">
    <origin xyz="-0.477 0 -0.24800000000000003"/>
    <parent link="oven_area_area_right_drawer_main"/>
    <child link="oven_area_area_right_drawer_barrier_1_back_link"/>
  </joint>
  <link name="oven_area_area_right_drawer_board_2_link">
    <inertial>
      <origin rpy="0 0 0" xyz="0.0 0.0 0.0"/>
      <mass value="1"/>
      <inertia ixx="1" ixy="0.0" ixz="0.0" iyy="1" iyz="0.0" izz="1"/>
    </inertial>
    <visual>
      <origin rpy="0 0 0" xyz="0 0 0"/>
      <geometry>
        <box size="0.49 0.25 0.036"/>
      </geometry>
    </visual>
    <collision>
      <origin rpy="0 0 0" xyz="0 0 0"/>
      <geometry>
        <box size="0.49 0.25 0.036"/>
      </geometry>
    </collision>
  </link>
  <joint name="oven_area_area_right_drawer_board_2_joint" type="fixed">
    <origin xyz="-0.25 0 0.05"/>
    <parent link="oven_area_area_right_drawer_main"/>
    <child link="oven_area_area_right_drawer_board_2_link"/>
  </joint>
  <link name="oven_area_area_right_drawer_barrier_2_right_link">
    <inertial>
      <origin rpy="0 0 0" xyz="0.0 0.0 0.0"/>
      <mass value="1"/>
      <inertia ixx="1" ixy="0.0" ixz="0.0" iyy="1" iyz="0.0" izz="1"/>
    </inertial>
    <visual>
      <origin rpy="0 0 0" xyz="0 0 0"/>
      <geometry>
        <box size="0.49 0.036 0.1"/>
      </geometry>
    </visual>
    <collision>
      <origin rpy="0 0 0" xyz="0 0 0"/>
      <geometry>
        <box size="0.49 0.036 0.1"/>
      </geometry>
    </collision>
  </link>
  <joint name="oven_area_area_right_drawer_barrier_2_right_joint" type="fixed">
    <origin xyz="-0.25 -0.107 0.082"/>
    <parent link="oven_area_area_right_drawer_main"/>
    <child link="oven_area_area_right_drawer_barrier_2_right_link"/>
  </joint>
  <link name="oven_area_area_right_drawer_barrier_2_left_link">
    <inertial>
      <origin rpy="0 0 0" xyz="0.0 0.0 0.0"/>
      <mass value="1"/>
      <inertia ixx="1" ixy="0.0" ixz="0.0" iyy="1" iyz="0.0" izz="1"/>
    </inertial>
    <visual>
      <origin rpy="0 0 0" xyz="0 0 0"/>
      <geometry>
        <box size="0.49 0.036 0.1"/>
      </geometry>
    </visual>
    <collision>
      <origin rpy="0 0 0" xyz="0 0 0"/>
      <geometry>
        <box size="0.49 0.036 0.1"/>
      </geometry>
    </collision>
  </link>
  <joint name="oven_area_area_right_drawer_barrier_2_left_joint" type="fixed">
    <origin xyz="-0.25 0.107 0.082"/>
    <parent link="oven_area_area_right_drawer_main"/>
    <child link="oven_area_area_right_drawer_barrier_2_left_link"/>
  </joint>
  <link name="oven_area_area_right_drawer_barrier_2_back_link">
    <inertial>
      <origin rpy="0 0 0" xyz="0.0 0.0 0.0"/>
      <mass value="1"/>
      <inertia ixx="1" ixy="0.0" ixz="0.0" iyy="1" iyz="0.0" izz="1"/>
    </inertial>
    <visual>
      <origin rpy="0 0 0" xyz="0 0 0"/>
      <geometry>
        <box size="0.036 0.25 0.1"/>
      </geometry>
    </visual>
    <collision>
      <origin rpy="0 0 0" xyz="0 0 0"/>
      <geometry>
        <box size="0.036 0.25 0.1"/>
      </geometry>
    </collision>
  </link>
  <joint name="oven_area_area_right_drawer_barrier_2_back_joint" type="fixed">
    <origin xyz="-0.477 0 0.082"/>
    <parent link="oven_area_area_right_drawer_main"/>
    <child link="oven_area_area_right_drawer_barrier_2_back_link"/>
  </joint>
  <link name="oven_area_area_right_drawer_board_3_link">
    <inertial>
      <origin rpy="0 0 0" xyz="0.0 0.0 0.0"/>
      <mass value="1"/>
      <inertia ixx="1" ixy="0.0" ixz="0.0" iyy="1" iyz="0.0" izz="1"/>
    </inertial>
    <visual>
      <origin rpy="0 0 0" xyz="0 0 0"/>
      <geometry>
        <box size="0.49 0.25 0.036"/>
      </geometry>
    </visual>
    <collision>
      <origin rpy="0 0 0" xyz="0 0 0"/>
      <geometry>
        <box size="0.49 0.25 0.036"/>
      </geometry>
    </collision>
  </link>
  <joint name="oven_area_area_right_drawer_board_3_joint" type="fixed">
    <origin xyz="-0.25 0 0.38"/>
    <parent link="oven_area_area_right_drawer_main"/>
    <child link="oven_area_area_right_drawer_board_3_link"/>
  </joint>
  <link name="oven_area_area_right_drawer_barrier_3_right_link">
    <inertial>
      <origin rpy="0 0 0" xyz="0.0 0.0 0.0"/>
      <mass value="1"/>
      <inertia ixx="1" ixy="0.0" ixz="0.0" iyy="1" iyz="0.0" izz="1"/>
    </inertial>
    <visual>
      <origin rpy="0 0 0" xyz="0 0 0"/>
      <geometry>
        <box size="0.49 0.036 0.1"/>
      </geometry>
    </visual>
    <collision>
      <origin rpy="0 0 0" xyz="0 0 0"/>
      <geometry>
        <box size="0.49 0.036 0.1"/>
      </geometry>
    </collision>
  </link>
  <joint name="oven_area_area_right_drawer_barrier_3_right_joint" type="fixed">
    <origin xyz="-0.25 -0.107 0.412"/>
    <parent link="oven_area_area_right_drawer_main"/>
    <child link="oven_area_area_right_drawer_barrier_3_right_link"/>
  </joint>
  <link name="oven_area_area_right_drawer_barrier_3_left_link">
    <inertial>
      <origin rpy="0 0 0" xyz="0.0 0.0 0.0"/>
      <mass value="1"/>
      <inertia ixx="1" ixy="0.0" ixz="0.0" iyy="1" iyz="0.0" izz="1"/>
    </inertial>
    <visual>
      <origin rpy="0 0 0" xyz="0 0 0"/>
      <geometry>
        <box size="0.49 0.036 0.1"/>
      </geometry>
    </visual>
    <collision>
      <origin rpy="0 0 0" xyz="0 0 0"/>
      <geometry>
        <box size="0.49 0.036 0.1"/>
      </geometry>
    </collision>
  </link>
  <joint name="oven_area_area_right_drawer_barrier_3_left_joint" type="fixed">
    <origin xyz="-0.25 0.107 0.412"/>
    <parent link="oven_area_area_right_drawer_main"/>
    <child link="oven_area_area_right_drawer_barrier_3_left_link"/>
  </joint>
  <link name="oven_area_area_right_drawer_barrier_3_back_link">
    <inertial>
      <origin rpy="0 0 0" xyz="0.0 0.0 0.0"/>
      <mass value="1"/>
      <inertia ixx="1" ixy="0.0" ixz="0.0" iyy="1" iyz="0.0" izz="1"/>
    </inertial>
    <visual>
      <origin rpy="0 0 0" xyz="0 0 0"/>
      <geometry>
        <box size="0.036 0.25 0.1"/>
      </geometry>
    </visual>
    <collision>
      <origin rpy="0 0 0" xyz="0 0 0"/>
      <geometry>
        <box size="0.036 0.25 0.1"/>
      </geometry>
    </collision>
  </link>
  <joint name="oven_area_area_right_drawer_barrier_3_back_joint" type="fixed">
    <origin xyz="-0.477 0 0.412"/>
    <parent link="oven_area_area_right_drawer_main"/>
    <child link="oven_area_area_right_drawer_barrier_3_back_link"/>
  </joint>
  <link name="kitchen_island_footprint">
    <inertial>
      <origin rpy="0 0 0" xyz="0.0 0.0 0.0"/>
      <mass value="1"/>
      <inertia ixx="1" ixy="0.0" ixz="0.0" iyy="1" iyz="0.0" izz="1"/>
    </inertial>
  </link>
  <link name="kitchen_island">
    <inertial>
      <origin rpy="0 0 0" xyz="0.0 0.0 0.0"/>
      <mass value="1"/>
      <inertia ixx="1" ixy="0.0" ixz="0.0" iyy="1" iyz="0.0" izz="1"/>
    </inertial>
    <visual>
      <origin rpy="0 0 0" xyz="0 0 0"/>
      <geometry>
        <mesh filename="package://iai_kitchen/meshes/racks/IslandArea.dae"/>
      </geometry>
    </visual>
    <collision>
      <origin rpy="0 0 0" xyz="0 0 0"/>
      <geometry>
        <mesh filename="package://iai_kitchen/meshes/racks/IslandArea.obj"/>
      </geometry>
    </collision>
  </link>
  <joint name="kitchen_island_footprint_joint" type="fixed">
    <origin rpy="0 0 0" xyz="-1.363 0.59 0"/>
    <child link="kitchen_island_footprint"/>
    <parent link="room_link"/>
  </joint>
  <joint name="kitchen_island_joint" type="fixed">
    <origin rpy="0 0 0" xyz="0.2975 1.1292 0.421"/>
    <parent link="kitchen_island_footprint"/>
    <child link="kitchen_island"/>
  </joint>
  <link name="kitchen_island_surface">
    <inertial>
      <origin rpy="0 0 0" xyz="0.0 0.0 0.0"/>
      <mass value="1"/>
      <inertia ixx="1" ixy="0.0" ixz="0.0" iyy="1" iyz="0.0" izz="1"/>
    </inertial>
    <collision>
      <origin rpy="0 0 0" xyz="0 0 0"/>
      <geometry>
        <box size="0.8 2.45 0.02"/>
      </geometry>
    </collision>
  </link>
  <joint name="kitchen_island_surface_joint" type="fixed">
    <origin rpy="0 0 0" xyz="0.0 0. 0.42"/>
    <parent link="kitchen_island"/>
    <child link="kitchen_island_surface"/>
  </joint>
  <link name="kitchen_island_stove">
    <inertial>
      <origin rpy="0 0 0" xyz="0.0 0.0 0.0"/>
      <mass value="1"/>
      <inertia ixx="1" ixy="0.0" ixz="0.0" iyy="1" iyz="0.0" izz="1"/>
    </inertial>
    <visual>
      <origin rpy="0 0 0" xyz="0 0 0"/>
      <geometry>
        <mesh filename="package://iai_kitchen/meshes/misc/Stove.dae"/>
      </geometry>
    </visual>
    <collision>
      <origin rpy="0 0 0" xyz="0 0 0"/>
      <geometry>
        <mesh filename="package://iai_kitchen/meshes/misc/Stove.obj"/>
      </geometry>
    </collision>
  </link>
  <joint name="kitchen_island_stove_joint" type="fixed">
    <origin rpy="0 0 0" xyz="0.0 0.7658 0.4315"/>
    <parent link="kitchen_island"/>
    <child link="kitchen_island_stove"/>
  </joint>
  <link name="kitchen_island_left_panel">
    <inertial>
      <origin rpy="0 0 0" xyz="0.0 0.0 0.0"/>
      <mass value="1"/>
      <inertia ixx="1" ixy="0.0" ixz="0.0" iyy="1" iyz="0.0" izz="1"/>
    </inertial>
    <visual>
      <origin rpy="0 0 0" xyz="0 0 0"/>
      <geometry>
        <mesh filename="package://iai_kitchen/meshes/drawers/Panel_60.dae"/>
      </geometry>
    </visual>
    <collision>
      <origin rpy="0 0 0" xyz="0 0 0"/>
      <geometry>
        <mesh filename="package://iai_kitchen/meshes/drawers/Panel_60.obj"/>
      </geometry>
    </collision>
  </link>
  <joint name="kitchen_island_left_panel_joint" type="fixed">
    <origin rpy="0 0 0" xyz="0.2725 -0.8 0.329 "/>
    <parent link="kitchen_island"/>
    <child link="kitchen_island_left_panel"/>
  </joint>
  <link name="kitchen_island_left_upper_drawer_main">
    <inertial>
      <origin rpy="0 0 0" xyz="0.0 0.0 0.0"/>
      <mass value="1"/>
      <inertia ixx="1" ixy="0.0" ixz="0.0" iyy="1" iyz="0.0" izz="1"/>
    </inertial>
    <visual>
      <origin rpy="0 0 0" xyz="0 0 0"/>
      <geometry>
        <mesh filename="package://iai_kitchen/meshes/drawers/Drawer_60_29.dae"/>
      </geometry>
    </visual>
    <collision>
      <origin rpy="0 0 0" xyz="0 0 0"/>
      <geometry>
        <mesh filename="package://iai_kitchen/meshes/drawers/Drawer_60_29.obj"/>
      </geometry>
    </collision>
  </link>
  <link name="kitchen_island_left_upper_drawer_handle">
    <inertial>
      <origin rpy="0 0 0" xyz="0.0 0.0 0.0"/>
      <mass value="1"/>
      <inertia ixx="1" ixy="0.0" ixz="0.0" iyy="1" iyz="0.0" izz="1"/>
    </inertial>
    <visual>
      <origin rpy="0 0 0" xyz="0 0 0"/>
      <geometry>
        <mesh filename="package://iai_kitchen/meshes/handles/Handle60.dae"/>
      </geometry>
    </visual>
    <collision>
      <origin rpy="0 0 0" xyz="0 0 0"/>
      <geometry>
        <mesh filename="package://iai_kitchen/meshes/handles/Handle60.obj"/>
      </geometry>
    </collision>
  </link>
  <joint name="kitchen_island_left_upper_drawer_main_joint" type="prismatic">
    <origin rpy="0 0 0" xyz="0.0025 -0.8 0.114 "/>
    <parent link="kitchen_island"/>
    <child link="kitchen_island_left_upper_drawer_main"/>
    <axis xyz="1. 0. 0.0"/>
    <limit effort="300" lower="0" upper="0.48" velocity="10"/>
    <!--
          <limit effort="300" lower="0" upper="0" velocity="10"/>
      -->
  </joint>
  <joint name="kitchen_island_left_upper_drawer_handle_joint" type="fixed">
    <origin rpy="0 0 0" xyz="0.3525 0 0.11"/>
    <parent link="kitchen_island_left_upper_drawer_main"/>
    <child link="kitchen_island_left_upper_drawer_handle"/>
    <axis xyz="0 0 1"/>
    <limit effort="300" lower="0" upper="1.5707963267948966" velocity="10"/>
  </joint>
  <link name="kitchen_island_left_lower_drawer_main">
    <inertial>
      <origin rpy="0 0 0" xyz="0.0 0.0 0.0"/>
      <mass value="1"/>
      <inertia ixx="1" ixy="0.0" ixz="0.0" iyy="1" iyz="0.0" izz="1"/>
    </inertial>
    <visual>
      <origin rpy="0 0 0" xyz="0 0 0"/>
      <geometry>
        <mesh filename="package://iai_kitchen/meshes/drawers/Drawer_60_29.dae"/>
      </geometry>
    </visual>
    <collision>
      <origin rpy="0 0 0" xyz="0 0 0"/>
      <geometry>
        <mesh filename="package://iai_kitchen/meshes/drawers/Drawer_60_29.obj"/>
      </geometry>
    </collision>
  </link>
  <link name="kitchen_island_left_lower_drawer_handle">
    <inertial>
      <origin rpy="0 0 0" xyz="0.0 0.0 0.0"/>
      <mass value="1"/>
      <inertia ixx="1" ixy="0.0" ixz="0.0" iyy="1" iyz="0.0" izz="1"/>
    </inertial>
    <visual>
      <origin rpy="0 0 0" xyz="0 0 0"/>
      <geometry>
        <mesh filename="package://iai_kitchen/meshes/handles/Handle60.dae"/>
      </geometry>
    </visual>
    <collision>
      <origin rpy="0 0 0" xyz="0 0 0"/>
      <geometry>
        <mesh filename="package://iai_kitchen/meshes/handles/Handle60.obj"/>
      </geometry>
    </collision>
  </link>
  <joint name="kitchen_island_left_lower_drawer_main_joint" type="prismatic">
    <origin rpy="0 0 0" xyz="0.0025 -0.8 -0.176 "/>
    <parent link="kitchen_island"/>
    <child link="kitchen_island_left_lower_drawer_main"/>
    <axis xyz="1. 0. 0.0"/>
    <limit effort="300" lower="0" upper="0.48" velocity="10"/>
    <!--
          <limit effort="300" lower="0" upper="0" velocity="10"/>
      -->
  </joint>
  <joint name="kitchen_island_left_lower_drawer_handle_joint" type="fixed">
    <origin rpy="0 0 0" xyz="0.3525 0 0.11"/>
    <parent link="kitchen_island_left_lower_drawer_main"/>
    <child link="kitchen_island_left_lower_drawer_handle"/>
    <axis xyz="0 0 1"/>
    <limit effort="300" lower="0" upper="1.5707963267948966" velocity="10"/>
  </joint>
  <link name="kitchen_island_middle_panel">
    <inertial>
      <origin rpy="0 0 0" xyz="0.0 0.0 0.0"/>
      <mass value="1"/>
      <inertia ixx="1" ixy="0.0" ixz="0.0" iyy="1" iyz="0.0" izz="1"/>
    </inertial>
    <visual>
      <origin rpy="0 0 0" xyz="0 0 0"/>
      <geometry>
        <mesh filename="package://iai_kitchen/meshes/drawers/Panel_100.dae"/>
      </geometry>
    </visual>
    <collision>
      <origin rpy="0 0 0" xyz="0 0 0"/>
      <geometry>
        <mesh filename="package://iai_kitchen/meshes/drawers/Panel_100.obj"/>
      </geometry>
    </collision>
  </link>
  <joint name="kitchen_island_middle_panel_joint" type="fixed">
    <origin rpy="0 0 0" xyz="0.2725 0 0.329 "/>
    <parent link="kitchen_island"/>
    <child link="kitchen_island_middle_panel"/>
  </joint>
  <link name="kitchen_island_middle_upper_drawer_main">
    <inertial>
      <origin rpy="0 0 0" xyz="0.0 0.0 0.0"/>
      <mass value="1"/>
      <inertia ixx="1" ixy="0.0" ixz="0.0" iyy="1" iyz="0.0" izz="1"/>
    </inertial>
    <visual>
      <origin rpy="0 0 0" xyz="0 0 0"/>
      <geometry>
        <mesh filename="package://iai_kitchen/meshes/drawers/Drawer_100_29.dae"/>
      </geometry>
    </visual>
    <collision>
      <origin rpy="0 0 0" xyz="0 0 0"/>
      <geometry>
        <mesh filename="package://iai_kitchen/meshes/drawers/Drawer_100_29.obj"/>
      </geometry>
    </collision>
  </link>
  <link name="kitchen_island_middle_upper_drawer_handle">
    <inertial>
      <origin rpy="0 0 0" xyz="0.0 0.0 0.0"/>
      <mass value="1"/>
      <inertia ixx="1" ixy="0.0" ixz="0.0" iyy="1" iyz="0.0" izz="1"/>
    </inertial>
    <visual>
      <origin rpy="0 0 0" xyz="0 0 0"/>
      <geometry>
        <mesh filename="package://iai_kitchen/meshes/handles/Handle100.dae"/>
      </geometry>
    </visual>
    <collision>
      <origin rpy="0 0 0" xyz="0 0 0"/>
      <geometry>
        <mesh filename="package://iai_kitchen/meshes/handles/Handle100.obj"/>
      </geometry>
    </collision>
  </link>
  <joint name="kitchen_island_middle_upper_drawer_main_joint" type="prismatic">
    <origin rpy="0 0 0" xyz="0.0025 0 0.114 "/>
    <parent link="kitchen_island"/>
    <child link="kitchen_island_middle_upper_drawer_main"/>
    <axis xyz="1. 0. 0.0"/>
    <limit effort="300" lower="0" upper="0.48" velocity="10"/>
    <!--
          <limit effort="300" lower="0" upper="0" velocity="10"/>
      -->
  </joint>
  <joint name="kitchen_island_middle_upper_drawer_handle_joint" type="fixed">
    <origin rpy="0 0 0" xyz="0.3525 0 0.11"/>
    <parent link="kitchen_island_middle_upper_drawer_main"/>
    <child link="kitchen_island_middle_upper_drawer_handle"/>
    <axis xyz="0 0 1"/>
    <limit effort="300" lower="0" upper="1.5707963267948966" velocity="10"/>
  </joint>
  <link name="kitchen_island_middle_lower_drawer_main">
    <inertial>
      <origin rpy="0 0 0" xyz="0.0 0.0 0.0"/>
      <mass value="1"/>
      <inertia ixx="1" ixy="0.0" ixz="0.0" iyy="1" iyz="0.0" izz="1"/>
    </inertial>
    <visual>
      <origin rpy="0 0 0" xyz="0 0 0"/>
      <geometry>
        <mesh filename="package://iai_kitchen/meshes/drawers/Drawer_100_29.dae"/>
      </geometry>
    </visual>
    <collision>
      <origin rpy="0 0 0" xyz="0 0 0"/>
      <geometry>
        <mesh filename="package://iai_kitchen/meshes/drawers/Drawer_100_29.obj"/>
      </geometry>
    </collision>
  </link>
  <link name="kitchen_island_middle_lower_drawer_handle">
    <inertial>
      <origin rpy="0 0 0" xyz="0.0 0.0 0.0"/>
      <mass value="1"/>
      <inertia ixx="1" ixy="0.0" ixz="0.0" iyy="1" iyz="0.0" izz="1"/>
    </inertial>
    <visual>
      <origin rpy="0 0 0" xyz="0 0 0"/>
      <geometry>
        <mesh filename="package://iai_kitchen/meshes/handles/Handle100.dae"/>
      </geometry>
    </visual>
    <collision>
      <origin rpy="0 0 0" xyz="0 0 0"/>
      <geometry>
        <mesh filename="package://iai_kitchen/meshes/handles/Handle100.obj"/>
      </geometry>
    </collision>
  </link>
  <joint name="kitchen_island_middle_lower_drawer_main_joint" type="prismatic">
    <origin rpy="0 0 0" xyz="0.0025 0 -0.176 "/>
    <parent link="kitchen_island"/>
    <child link="kitchen_island_middle_lower_drawer_main"/>
    <axis xyz="1. 0. 0.0"/>
    <limit effort="300" lower="0" upper="0.48" velocity="10"/>
    <!--
          <limit effort="300" lower="0" upper="0" velocity="10"/>
      -->
  </joint>
  <joint name="kitchen_island_middle_lower_drawer_handle_joint" type="fixed">
    <origin rpy="0 0 0" xyz="0.3525 0 0.11"/>
    <parent link="kitchen_island_middle_lower_drawer_main"/>
    <child link="kitchen_island_middle_lower_drawer_handle"/>
    <axis xyz="0 0 1"/>
    <limit effort="300" lower="0" upper="1.5707963267948966" velocity="10"/>
  </joint>
  <link name="kitchen_island_right_panel">
    <inertial>
      <origin rpy="0 0 0" xyz="0.0 0.0 0.0"/>
      <mass value="1"/>
      <inertia ixx="1" ixy="0.0" ixz="0.0" iyy="1" iyz="0.0" izz="1"/>
    </inertial>
    <visual>
      <origin rpy="0 0 0" xyz="0 0 0"/>
      <geometry>
        <mesh filename="package://iai_kitchen/meshes/drawers/Panel_60.dae"/>
      </geometry>
    </visual>
    <collision>
      <origin rpy="0 0 0" xyz="0 0 0"/>
      <geometry>
        <mesh filename="package://iai_kitchen/meshes/drawers/Panel_60.obj"/>
      </geometry>
    </collision>
  </link>
  <joint name="kitchen_island_right_panel_joint" type="fixed">
    <origin rpy="0 0 0" xyz="0.2725 0.8 0.329 "/>
    <parent link="kitchen_island"/>
    <child link="kitchen_island_right_panel"/>
  </joint>
  <link name="kitchen_island_right_upper_drawer_main">
    <inertial>
      <origin rpy="0 0 0" xyz="0.0 0.0 0.0"/>
      <mass value="1"/>
      <inertia ixx="1" ixy="0.0" ixz="0.0" iyy="1" iyz="0.0" izz="1"/>
    </inertial>
    <visual>
      <origin rpy="0 0 0" xyz="0 0 0"/>
      <geometry>
        <mesh filename="package://iai_kitchen/meshes/drawers/Drawer_60_29.dae"/>
      </geometry>
    </visual>
    <collision>
      <origin rpy="0 0 0" xyz="0 0 0"/>
      <geometry>
        <mesh filename="package://iai_kitchen/meshes/drawers/Drawer_60_29.obj"/>
      </geometry>
    </collision>
  </link>
  <link name="kitchen_island_right_upper_drawer_handle">
    <inertial>
      <origin rpy="0 0 0" xyz="0.0 0.0 0.0"/>
      <mass value="1"/>
      <inertia ixx="1" ixy="0.0" ixz="0.0" iyy="1" iyz="0.0" izz="1"/>
    </inertial>
    <visual>
      <origin rpy="0 0 0" xyz="0 0 0"/>
      <geometry>
        <mesh filename="package://iai_kitchen/meshes/handles/Handle60.dae"/>
      </geometry>
    </visual>
    <collision>
      <origin rpy="0 0 0" xyz="0 0 0"/>
      <geometry>
        <mesh filename="package://iai_kitchen/meshes/handles/Handle60.obj"/>
      </geometry>
    </collision>
  </link>
  <joint name="kitchen_island_right_upper_drawer_main_joint" type="prismatic">
    <origin rpy="0 0 0" xyz="0.0025 0.8 0.114 "/>
    <parent link="kitchen_island"/>
    <child link="kitchen_island_right_upper_drawer_main"/>
    <axis xyz="1. 0. 0.0"/>
    <limit effort="300" lower="0" upper="0.48" velocity="10"/>
    <!--
          <limit effort="300" lower="0" upper="0" velocity="10"/>
      -->
  </joint>
  <joint name="kitchen_island_right_upper_drawer_handle_joint" type="fixed">
    <origin rpy="0 0 0" xyz="0.3525 0 0.11"/>
    <parent link="kitchen_island_right_upper_drawer_main"/>
    <child link="kitchen_island_right_upper_drawer_handle"/>
    <axis xyz="0 0 1"/>
    <limit effort="300" lower="0" upper="1.5707963267948966" velocity="10"/>
  </joint>
  <link name="kitchen_island_right_lower_drawer_main">
    <inertial>
      <origin rpy="0 0 0" xyz="0.0 0.0 0.0"/>
      <mass value="1"/>
      <inertia ixx="1" ixy="0.0" ixz="0.0" iyy="1" iyz="0.0" izz="1"/>
    </inertial>
    <visual>
      <origin rpy="0 0 0" xyz="0 0 0"/>
      <geometry>
        <mesh filename="package://iai_kitchen/meshes/drawers/Drawer_60_29.dae"/>
      </geometry>
    </visual>
    <collision>
      <origin rpy="0 0 0" xyz="0 0 0"/>
      <geometry>
        <mesh filename="package://iai_kitchen/meshes/drawers/Drawer_60_29.obj"/>
      </geometry>
    </collision>
  </link>
  <link name="kitchen_island_right_lower_drawer_handle">
    <inertial>
      <origin rpy="0 0 0" xyz="0.0 0.0 0.0"/>
      <mass value="1"/>
      <inertia ixx="1" ixy="0.0" ixz="0.0" iyy="1" iyz="0.0" izz="1"/>
    </inertial>
    <visual>
      <origin rpy="0 0 0" xyz="0 0 0"/>
      <geometry>
        <mesh filename="package://iai_kitchen/meshes/handles/Handle60.dae"/>
      </geometry>
    </visual>
    <collision>
      <origin rpy="0 0 0" xyz="0 0 0"/>
      <geometry>
        <mesh filename="package://iai_kitchen/meshes/handles/Handle60.obj"/>
      </geometry>
    </collision>
  </link>
  <joint name="kitchen_island_right_lower_drawer_main_joint" type="prismatic">
    <origin rpy="0 0 0" xyz="0.0025 0.8 -0.176 "/>
    <parent link="kitchen_island"/>
    <child link="kitchen_island_right_lower_drawer_main"/>
    <axis xyz="1. 0. 0.0"/>
    <limit effort="300" lower="0" upper="0.48" velocity="10"/>
    <!--
          <limit effort="300" lower="0" upper="0" velocity="10"/>
      -->
  </joint>
  <joint name="kitchen_island_right_lower_drawer_handle_joint" type="fixed">
    <origin rpy="0 0 0" xyz="0.3525 0 0.11"/>
    <parent link="kitchen_island_right_lower_drawer_main"/>
    <child link="kitchen_island_right_lower_drawer_handle"/>
    <axis xyz="0 0 1"/>
    <limit effort="300" lower="0" upper="1.5707963267948966" velocity="10"/>
  </joint>
  <link name="fridge_area_footprint">
    <inertial>
      <origin rpy="0 0 0" xyz="0.0 0.0 0.0"/>
      <mass value="1"/>
      <inertia ixx="1" ixy="0.0" ixz="0.0" iyy="1" iyz="0.0" izz="1"/>
    </inertial>
  </link>
  <link name="fridge_area">
    <inertial>
      <origin rpy="0 0 0" xyz="0.0 0.0 0.0"/>
      <mass value="1"/>
      <inertia ixx="1" ixy="0.0" ixz="0.0" iyy="1" iyz="0.0" izz="1"/>
    </inertial>
    <visual>
      <origin rpy="0 0 0" xyz="0 0 0.01"/>
      <geometry>
        <mesh filename="package://iai_kitchen/meshes/racks/FridgeArea.dae"/>
      </geometry>
    </visual>
    <collision>
      <origin rpy="0 0 0" xyz="0 0 0.01"/>
      <geometry>
        <mesh filename="package://iai_kitchen/meshes/racks/FridgeArea.obj"/>
        <!--mesh filename="package://iai_kitchen/meshes/collision/kitchen_fridge.stl"/-->
      </geometry>
    </collision>
  </link>
  <joint name="fridge_area_footprint_joint" type="fixed">
    <origin rpy="0 0 3.141592653589793" xyz="1.845 -0.73 0"/>
    <child link="fridge_area_footprint"/>
    <parent link="room_link"/>
  </joint>
  <joint name="fridge_area_main_joint" type="fixed">
    <origin rpy="0 0 0" xyz="0.29 0.3 0.74"/>
    <parent link="fridge_area_footprint"/>
    <child link="fridge_area"/>
  </joint>
  <link name="fridge_area_lower_drawer_main">
    <inertial>
      <origin rpy="0 0 0" xyz="0.0 0.0 0.0"/>
      <mass value="1"/>
      <inertia ixx="1" ixy="0.0" ixz="0.0" iyy="1" iyz="0.0" izz="1"/>
    </inertial>
    <visual>
      <origin rpy="0 0 0" xyz="0 0 0"/>
      <geometry>
        <mesh filename="package://iai_kitchen/meshes/drawers/Drawer_60_29.dae"/>
      </geometry>
    </visual>
    <collision>
      <origin rpy="0 0 0" xyz="0 0 0"/>
      <geometry>
        <mesh filename="package://iai_kitchen/meshes/drawers/Drawer_60_29.obj"/>
      </geometry>
    </collision>
  </link>
  <link name="fridge_area_lower_drawer_handle">
    <inertial>
      <origin rpy="0 0 0" xyz="0.0 0.0 0.0"/>
      <mass value="1"/>
      <inertia ixx="1" ixy="0.0" ixz="0.0" iyy="1" iyz="0.0" izz="1"/>
    </inertial>
    <visual>
      <origin rpy="0 0 0" xyz="0 0 0"/>
      <geometry>
        <mesh filename="package://iai_kitchen/meshes/handles/Handle60.dae"/>
      </geometry>
    </visual>
    <collision>
      <origin rpy="0 0 0" xyz="0 0 0"/>
      <geometry>
        <mesh filename="package://iai_kitchen/meshes/handles/Handle60.obj"/>
      </geometry>
    </collision>
  </link>
  <joint name="fridge_area_lower_drawer_main_joint" type="prismatic">
    <origin rpy="0 0 0" xyz="0.0 -0.0 -0.4175 "/>
    <parent link="fridge_area"/>
    <child link="fridge_area_lower_drawer_main"/>
    <axis xyz="1. 0. 0.0"/>
    <limit effort="300" lower="0" upper="0.48" velocity="10"/>
    <!--
          <limit effort="300" lower="0" upper="0" velocity="10"/>
      -->
  </joint>
  <joint name="fridge_area_lower_drawer_handle_joint" type="fixed">
    <origin rpy="0 0 0" xyz="0.3525 0 0.11"/>
    <parent link="fridge_area_lower_drawer_main"/>
    <child link="fridge_area_lower_drawer_handle"/>
    <axis xyz="0 0 1"/>
    <limit effort="300" lower="0" upper="1.5707963267948966" velocity="10"/>
  </joint>
  <link name="iai_fridge_main">
    <inertial>
      <origin rpy="0 0 0" xyz="0.0 0.0 0.0"/>
      <mass value="1"/>
      <inertia ixx="1" ixy="0.0" ixz="0.0" iyy="1" iyz="0.0" izz="1"/>
    </inertial>
    <visual>
      <origin rpy="0 0 0" xyz="0 0 0"/>
      <geometry>
        <mesh filename="package://iai_kitchen/meshes/misc/Fridge.dae"/>
      </geometry>
    </visual>
    <collision>
      <origin rpy="0 0 0" xyz="0 0 0"/>
      <geometry>
        <mesh filename="package://iai_kitchen/meshes/misc/Fridge.obj"/>
      </geometry>
    </collision>
  </link>
  <link name="iai_fridge_main_middle_level">
    <visual>
      <origin rpy="0 0 0" xyz="0 0 0"/>
      <geometry>
        <box size="0.29 0.50 0.01"/>
      </geometry>
    </visual>
    <collision>
      <origin rpy="0 0 0" xyz="0 0 0"/>
      <geometry>
        <box size="0.29 0.50 0.01"/>
      </geometry>
    </collision>
  </link>
  <link name="iai_fridge_door">
    <inertial>
      <origin rpy="0 0 0" xyz="0.0 0.0 0.0"/>
      <mass value="1"/>
      <inertia ixx="1" ixy="0.0" ixz="0.0" iyy="1" iyz="0.0" izz="1"/>
    </inertial>
    <visual>
      <origin rpy="0 0 0" xyz="0 0 0"/>
      <geometry>
        <mesh filename="package://iai_kitchen/meshes/misc/FridgeDoor.dae"/>
      </geometry>
    </visual>
    <collision>
      <origin rpy="0 0 0" xyz="0 0 0"/>
      <geometry>
        <mesh filename="package://iai_kitchen/meshes/misc/FridgeDoor.obj"/>
      </geometry>
    </collision>
  </link>
  <link name="iai_fridge_ceiling">
    <visual>
      <geometry>
        <box size="0.56 0.5 0.13"/>
      </geometry>
    </visual>
    <collision>
      <geometry>
        <box size="0.56 0.5 0.13"/>
      </geometry>
    </collision>
  </link>
  <link name="iai_fridge_door_handle">
    <inertial>
      <origin rpy="0 0 0" xyz="0.0 0.0 0.0"/>
      <mass value="1"/>
      <inertia ixx="1" ixy="0.0" ixz="0.0" iyy="1" iyz="0.0" izz="1"/>
    </inertial>
    <visual>
      <origin rpy="0 0 0" xyz="0 0 0"/>
      <geometry>
        <mesh filename="package://iai_kitchen/meshes/handles/VHandle90.dae"/>
      </geometry>
    </visual>
    <collision>
      <origin rpy="0 0 0" xyz="0 0 0"/>
      <geometry>
        <mesh filename="package://iai_kitchen/meshes/handles/VHandle90.obj"/>
      </geometry>
    </collision>
  </link>
  <joint name="iai_fridge_main_joint" type="fixed">
    <origin rpy="0 0 0" xyz="0 0 0.25"/>
    <parent link="fridge_area"/>
    <child link="iai_fridge_main"/>
  </joint>
  <joint name="iai_fridge_main_middle_level_joint" type="fixed">
    <parent link="iai_fridge_main"/>
    <child link="iai_fridge_main_middle_level"/>
    <origin rpy="0 0 0" xyz="-0.01 0 0.01"/>
  </joint>
  <joint name="iai_fridge_door_joint" type="revolute">
    <origin rpy="0 0 0" xyz="0.29 0.3 0"/>
    <parent link="iai_fridge_main"/>
    <child link="iai_fridge_door"/>
    <axis xyz="0 0 1"/>
    <limit effort="300" lower="0" upper="1.5707963267948966" velocity="10"/>
    <!--
      <limit lower="0" upper="0" effort="300" velocity="10"/>
-->
  </joint>
  <joint name="iai_fridge_ceiling_joint" type="fixed">
    <origin xyz="0.0 0.0 0.44"/>
    <parent link="iai_fridge_main"/>
    <child link="iai_fridge_ceiling"/>
  </joint>
  <joint name="iai_fridge_door_handle_joint" type="fixed">
    <origin rpy="0 0 0" xyz="0.07 -0.57 0."/>
    <parent link="iai_fridge_door"/>
    <child link="iai_fridge_door_handle"/>
  </joint>
  <link name="iai_fridge_door_block">
    <visual>
      <geometry>
        <box size="0.04 0.523 0.88"/>
      </geometry>
    </visual>
    <collision>
      <geometry>
        <box size="0.04 0.523 0.88"/>
      </geometry>
    </collision>
  </link>
  <link name="iai_fridge_door_block_right_bar">
    <visual>
      <geometry>
        <box size="0.06 0.015 0.73"/>
      </geometry>
    </visual>
    <collision>
      <geometry>
        <box size="0.06 0.015 0.73"/>
      </geometry>
    </collision>
  </link>
  <link name="iai_fridge_door_block_left_bar">
    <visual>
      <geometry>
        <box size="0.06 0.015 0.73"/>
      </geometry>
    </visual>
    <collision>
      <geometry>
        <box size="0.06 0.015 0.73"/>
      </geometry>
    </collision>
  </link>
  <link name="iai_fridge_door_block_top_bar">
    <visual>
      <geometry>
        <box size="0.045 0.46 0.01"/>
      </geometry>
    </visual>
    <collision>
      <geometry>
        <box size="0.045 0.46 0.01"/>
      </geometry>
    </collision>
  </link>
  <joint name="iai_fridge_door_block_joint" type="fixed">
    <origin xyz="-0.025 -0.27 -0.01"/>
    <parent link="iai_fridge_door"/>
    <child link="iai_fridge_door_block"/>
  </joint>
  <joint name="iai_fridge_door_block_right_bar_joint" type="fixed">
    <origin xyz="-0.0425 -0.2225 0.01"/>
    <parent link="iai_fridge_door_block"/>
    <child link="iai_fridge_door_block_right_bar"/>
  </joint>
  <joint name="iai_fridge_door_block_left_bar_joint" type="fixed">
    <origin xyz="-0.0425 0.2225 0.01"/>
    <parent link="iai_fridge_door_block"/>
    <child link="iai_fridge_door_block_left_bar"/>
  </joint>
  <joint name="iai_fridge_door_block_top_bar_joint" type="fixed">
    <origin xyz="-0.03 0 0.37"/>
    <parent link="iai_fridge_door_block"/>
    <child link="iai_fridge_door_block_top_bar"/>
  </joint>
  <joint name="iai_fridge_door_shelf1_to_door" type="fixed">
    <origin xyz="-0.07 0 -0.3525 "/>
    <child link="iai_fridge_door_shelf1_bottom"/>
    <parent link="iai_fridge_door_block"/>
  </joint>
  <link name="iai_fridge_door_shelf1_bottom">
    <visual>
      <geometry>
        <box size="0.1 0.35 0.01"/>
      </geometry>
    </visual>
    <collision>
      <geometry>
        <box size="0.1 0.35 0.01"/>
      </geometry>
    </collision>
  </link>
  <link name="iai_fridge_door_shelf1_left_side">
    <visual>
      <geometry>
        <box size="0.115 0.06 0.1"/>
      </geometry>
    </visual>
    <collision>
      <geometry>
        <box size="0.115 0.06 0.1"/>
      </geometry>
    </collision>
  </link>
  <link name="iai_fridge_door_shelf1_right_side">
    <visual>
      <geometry>
        <box size="0.115 0.06 0.1"/>
      </geometry>
    </visual>
    <collision>
      <geometry>
        <box size="0.115 0.06 0.1"/>
      </geometry>
    </collision>
  </link>
  <link name="iai_fridge_door_shelf1_front_side">
    <visual>
      <geometry>
        <box size="0.02 0.35 0.1"/>
      </geometry>
    </visual>
    <collision>
      <geometry>
        <box size="0.01 0.35 0.1"/>
      </geometry>
    </collision>
  </link>
  <joint name="iai_fridge_door_shelf1_left_to_bottom" type="fixed">
    <origin xyz="-0.0025 -0.2 0.045000000000000005"/>
    <parent link="iai_fridge_door_shelf1_bottom"/>
    <child link="iai_fridge_door_shelf1_left_side"/>
  </joint>
  <joint name="iai_fridge_door_shelf1_right_to_bottom" type="fixed">
    <origin xyz="-0.0025 0.2 0.045000000000000005"/>
    <parent link="iai_fridge_door_shelf1_bottom"/>
    <child link="iai_fridge_door_shelf1_right_side"/>
  </joint>
  <joint name="iai_fridge_door_shelf1_front_to_bottom" type="fixed">
    <origin xyz="-0.05 0 0.045000000000000005"/>
    <parent link="iai_fridge_door_shelf1_bottom"/>
    <child link="iai_fridge_door_shelf1_front_side"/>
  </joint>
  <joint name="iai_fridge_door_shelf2_to_door" type="fixed">
    <origin xyz="-0.07 0 0.02"/>
    <child link="iai_fridge_door_shelf2_bottom"/>
    <parent link="iai_fridge_door_block"/>
  </joint>
  <link name="iai_fridge_door_shelf2_bottom">
    <visual>
      <geometry>
        <box size="0.1 0.35 0.01"/>
      </geometry>
    </visual>
    <collision>
      <geometry>
        <box size="0.1 0.35 0.01"/>
      </geometry>
    </collision>
  </link>
  <link name="iai_fridge_door_shelf2_left_side">
    <visual>
      <geometry>
        <box size="0.115 0.06 0.065"/>
      </geometry>
    </visual>
    <collision>
      <geometry>
        <box size="0.115 0.06 0.065"/>
      </geometry>
    </collision>
  </link>
  <link name="iai_fridge_door_shelf2_right_side">
    <visual>
      <geometry>
        <box size="0.115 0.06 0.065"/>
      </geometry>
    </visual>
    <collision>
      <geometry>
        <box size="0.115 0.06 0.065"/>
      </geometry>
    </collision>
  </link>
  <link name="iai_fridge_door_shelf2_front_side">
    <visual>
      <geometry>
        <box size="0.02 0.35 0.065"/>
      </geometry>
    </visual>
    <collision>
      <geometry>
        <box size="0.01 0.35 0.065"/>
      </geometry>
    </collision>
  </link>
  <joint name="iai_fridge_door_shelf2_left_to_bottom" type="fixed">
    <origin xyz="-0.0025 -0.2 0.0275"/>
    <parent link="iai_fridge_door_shelf2_bottom"/>
    <child link="iai_fridge_door_shelf2_left_side"/>
  </joint>
  <joint name="iai_fridge_door_shelf2_right_to_bottom" type="fixed">
    <origin xyz="-0.0025 0.2 0.0275"/>
    <parent link="iai_fridge_door_shelf2_bottom"/>
    <child link="iai_fridge_door_shelf2_right_side"/>
  </joint>
  <joint name="iai_fridge_door_shelf2_front_to_bottom" type="fixed">
    <origin xyz="-0.05 0 0.0275"/>
    <parent link="iai_fridge_door_shelf2_bottom"/>
    <child link="iai_fridge_door_shelf2_front_side"/>
  </joint>
  <joint name="iai_fridge_door_shelf3_to_door" type="fixed">
    <origin xyz="-0.07 0 0.23"/>
    <child link="iai_fridge_door_shelf3_bottom"/>
    <parent link="iai_fridge_door_block"/>
  </joint>
  <link name="iai_fridge_door_shelf3_bottom">
    <visual>
      <geometry>
        <box size="0.1 0.35 0.01"/>
      </geometry>
    </visual>
    <collision>
      <geometry>
        <box size="0.1 0.35 0.01"/>
      </geometry>
    </collision>
  </link>
  <link name="iai_fridge_door_shelf3_left_side">
    <visual>
      <geometry>
        <box size="0.115 0.06 0.065"/>
      </geometry>
    </visual>
    <collision>
      <geometry>
        <box size="0.115 0.06 0.065"/>
      </geometry>
    </collision>
  </link>
  <link name="iai_fridge_door_shelf3_right_side">
    <visual>
      <geometry>
        <box size="0.115 0.06 0.065"/>
      </geometry>
    </visual>
    <collision>
      <geometry>
        <box size="0.115 0.06 0.065"/>
      </geometry>
    </collision>
  </link>
  <link name="iai_fridge_door_shelf3_front_side">
    <visual>
      <geometry>
        <box size="0.02 0.35 0.065"/>
      </geometry>
    </visual>
    <collision>
      <geometry>
        <box size="0.01 0.35 0.065"/>
      </geometry>
    </collision>
  </link>
  <joint name="iai_fridge_door_shelf3_left_to_bottom" type="fixed">
    <origin xyz="-0.0025 -0.2 0.0275"/>
    <parent link="iai_fridge_door_shelf3_bottom"/>
    <child link="iai_fridge_door_shelf3_left_side"/>
  </joint>
  <joint name="iai_fridge_door_shelf3_right_to_bottom" type="fixed">
    <origin xyz="-0.0025 0.2 0.0275"/>
    <parent link="iai_fridge_door_shelf3_bottom"/>
    <child link="iai_fridge_door_shelf3_right_side"/>
  </joint>
  <joint name="iai_fridge_door_shelf3_front_to_bottom" type="fixed">
    <origin xyz="-0.05 0 0.0275"/>
    <parent link="iai_fridge_door_shelf3_bottom"/>
    <child link="iai_fridge_door_shelf3_front_side"/>
  </joint>
  <link name="table_area_main">
    <inertial>
      <origin rpy="0 0 0" xyz="0.0 0.0 0.0"/>
      <mass value="1"/>
      <inertia ixx="1" ixy="0.0" ixz="0.0" iyy="1" iyz="0.0" izz="1"/>
    </inertial>
    <visual>
      <origin rpy="0 0 0" xyz="0 0 0.3619"/>
      <geometry>
        <mesh filename="package://iai_kitchen/meshes/misc/big_table_1.dae"/>
      </geometry>
    </visual>
    <collision>
      <origin rpy="0 0 0" xyz="0 0 0.3619"/>
      <geometry>
        <mesh filename="package://iai_kitchen/meshes/misc/big_table_1.obj"/>
      </geometry>
    </collision>
  </link>
  <joint name="table_area_main_joint" type="fixed">
    <origin rpy="0 0 3.141592653589793" xyz="-2.4 -1.5 0"/>
    <parent link="room_link"/>
    <child link="table_area_main"/>
  </joint>
  <link name="dining_area_footprint">
    <inertial>
      <origin rpy="0 0 0" xyz="0.0 0.0 0.0"/>
      <mass value="1"/>
      <inertia ixx="1" ixy="0.0" ixz="0.0" iyy="1" iyz="0.0" izz="1"/>
    </inertial>
  </link>
  <joint name="dining_area_footprint_joint" type="fixed">
    <origin rpy="0 0 1.5707963267948966" xyz="-3.38 0.28 0"/>
    <child link="dining_area_footprint"/>
    <parent link="room_link"/>
  </joint>
  <link name="dining_area_jokkmokk_table_main">
    <inertial>
      <origin rpy="0 0 0" xyz="0.0 0.0 0.0"/>
      <mass value="1"/>
      <inertia ixx="1" ixy="0.0" ixz="0.0" iyy="1" iyz="0.0" izz="1"/>
    </inertial>
    <visual>
      <origin rpy="0 0 0" xyz="0.0 0.0 0.0"/>
      <geometry>
        <mesh filename="package://iai_kitchen/meshes/jokkmokk/JokkmokkTable.obj"/>
      </geometry>
    </visual>
    <collision>
      <origin rpy="0 0 0" xyz="0.0 0.0 0.0"/>
      <geometry>
        <mesh filename="package://iai_kitchen/meshes/jokkmokk/JokkmokkTable.obj"/>
      </geometry>
    </collision>
  </link>
  <joint name="dining_area_jokkmokk_table_main_joint" type="fixed">
    <origin rpy="0 0 0" xyz="0 0 0.35"/>
    <parent link="dining_area_footprint"/>
    <child link="dining_area_jokkmokk_table_main"/>
  </joint>
  <link name="dining_area_jokkmokk_left_chair_main">
    <inertial>
      <origin rpy="0 0 0" xyz="0.0 0.0 0.0"/>
      <mass value="1"/>
      <inertia ixx="1" ixy="0.0" ixz="0.0" iyy="1" iyz="0.0" izz="1"/>
    </inertial>
    <visual>
      <origin rpy="0 0 0" xyz="0.0 0.0 0.0"/>
      <geometry>
        <mesh filename="package://iai_kitchen/meshes/jokkmokk/JokkmokkChair.dae"/>
      </geometry>
    </visual>
    <collision>
      <origin rpy="0 0 0" xyz="0.0 0.0 0.0"/>
      <geometry>
        <mesh filename="package://iai_kitchen/meshes/jokkmokk/JokkmokkChair.obj"/>
      </geometry>
    </collision>
  </link>
  <joint name="dining_area_jokkmokk_left_chair_main_joint" type="fixed">
    <origin rpy="0 0 0" xyz="-1 0 0.5535"/>
    <parent link="dining_area_footprint"/>
    <child link="dining_area_jokkmokk_left_chair_main"/>
  </joint>
  <link name="dining_area_jokkmokk_right_chair_main">
    <inertial>
      <origin rpy="0 0 0" xyz="0.0 0.0 0.0"/>
      <mass value="1"/>
      <inertia ixx="1" ixy="0.0" ixz="0.0" iyy="1" iyz="0.0" izz="1"/>
    </inertial>
    <visual>
      <origin rpy="0 0 0" xyz="0.0 0.0 0.0"/>
      <geometry>
        <mesh filename="package://iai_kitchen/meshes/jokkmokk/JokkmokkChair.dae"/>
      </geometry>
    </visual>
    <collision>
      <origin rpy="0 0 0" xyz="0.0 0.0 0.0"/>
      <geometry>
        <mesh filename="package://iai_kitchen/meshes/jokkmokk/JokkmokkChair.obj"/>
      </geometry>
    </collision>
  </link>
  <joint name="dining_area_jokkmokk_right_chair_main_joint" type="fixed">
    <origin rpy="0 0 -3.141592653589793" xyz="1 0 0.5535"/>
    <parent link="dining_area_footprint"/>
    <child link="dining_area_jokkmokk_right_chair_main"/>
  </joint>
  <!-- LINKS -->
  <link name="kitchen_wall_1">
    <inertial>
      <origin rpy="0 0 0" xyz="0.0 0.0 0.0"/>
      <mass value="1"/>
      <inertia ixx="1" ixy="0.0" ixz="0.0" iyy="1" iyz="0.0" izz="1"/>
    </inertial>
    <visual>
      <origin rpy="0 0 0" xyz="0 0 1.25"/>
      <geometry>
        <box size="1.1376 0.15 2.5"/>
      </geometry>
    </visual>
    <collision>
      <origin rpy="0 0 0" xyz="0 0 1.25"/>
      <geometry>
        <box size="1.1376 0.15 2.5"/>
      </geometry>
    </collision>
  </link>
  <link name="kitchen_wall_2">
    <inertial>
      <origin rpy="0 0 0" xyz="0.0 0.0 0.0"/>
      <mass value="1"/>
      <inertia ixx="1" ixy="0.0" ixz="0.0" iyy="1" iyz="0.0" izz="1"/>
    </inertial>
    <visual>
      <origin rpy="0 0 0" xyz="0 0 1.25"/>
      <geometry>
        <box size="5.182 0.15 2.5"/>
      </geometry>
    </visual>
    <collision>
      <origin rpy="0 0 0" xyz="0 0 1.25"/>
      <geometry>
        <box size="5.182 0.15 2.5"/>
      </geometry>
    </collision>
  </link>
  <link name="kitchen_wall_3">
    <inertial>
      <origin rpy="0 0 0" xyz="0.0 0.0 0.0"/>
      <mass value="1"/>
      <inertia ixx="1" ixy="0.0" ixz="0.0" iyy="1" iyz="0.0" izz="1"/>
    </inertial>
    <visual>
      <origin rpy="0 0 0" xyz="0 0 1.25"/>
      <geometry>
        <box size="5.901 0.15 2.5"/>
      </geometry>
    </visual>
    <collision>
      <origin rpy="0 0 0" xyz="0 0 1.25"/>
      <geometry>
        <box size="5.901 0.15 2.5"/>
      </geometry>
    </collision>
  </link>
  <link name="kitchen_wall_4">
    <inertial>
      <origin rpy="0 0 0" xyz="0.0 0.0 0.0"/>
      <mass value="1"/>
      <inertia ixx="1" ixy="0.0" ixz="0.0" iyy="1" iyz="0.0" izz="1"/>
    </inertial>
    <visual>
      <origin rpy="0 0 0" xyz="0 0 0.35"/>
      <geometry>
        <box size="4.25 0.15 0.7"/>
      </geometry>
    </visual>
    <collision>
      <origin rpy="0 0 0" xyz="0 0 0.35"/>
      <geometry>
        <box size="4.25 0.15 0.7"/>
      </geometry>
    </collision>
  </link>
  <link name="kitchen_wall_5">
    <inertial>
      <origin rpy="0 0 0" xyz="0.0 0.0 0.0"/>
      <mass value="1"/>
      <inertia ixx="1" ixy="0.0" ixz="0.0" iyy="1" iyz="0.0" izz="1"/>
    </inertial>
    <visual>
      <origin rpy="0 0 0" xyz="0 0 0.35"/>
      <geometry>
        <box size="2.27328 0.15 0.7"/>
      </geometry>
    </visual>
    <collision>
      <origin rpy="0 0 0" xyz="0 0 0.35"/>
      <geometry>
        <box size="2.27328 0.15 0.7"/>
      </geometry>
    </collision>
  </link>
  <link name="kitchen_wall_6">
    <inertial>
      <origin rpy="0 0 0" xyz="0.0 0.0 0.0"/>
      <mass value="1"/>
      <inertia ixx="1" ixy="0.0" ixz="0.0" iyy="1" iyz="0.0" izz="1"/>
    </inertial>
    <visual>
      <origin rpy="0 0 0" xyz="0 0 0.35"/>
      <geometry>
        <box size="1 0.15 0.7"/>
      </geometry>
    </visual>
    <collision>
      <origin rpy="0 0 0" xyz="0 0 0.35"/>
      <geometry>
        <box size="1 0.15 0.7"/>
      </geometry>
    </collision>
  </link>
  <link name="kitchen_wall_7">
    <inertial>
      <origin rpy="0 0 0" xyz="0.0 0.0 0.0"/>
      <mass value="1"/>
      <inertia ixx="1" ixy="0.0" ixz="0.0" iyy="1" iyz="0.0" izz="1"/>
    </inertial>
    <visual>
      <origin rpy="0 0 0" xyz="0 0 0.375"/>
      <geometry>
        <box size="1.6 0.15 0.75"/>
      </geometry>
    </visual>
    <collision>
      <origin rpy="0 0 0" xyz="0 0 0.375"/>
      <geometry>
        <box size="1.6 0.15 0.75"/>
      </geometry>
    </collision>
  </link>
  <!-- JOINTS -->
  <link name="kitchen_walls"/>
  <joint name="walls_main_joint" type="fixed">
    <origin rpy="0.0 0.0 0.0" xyz="-0.96 0.65 0"/>
    <parent link="room_link"/>
    <child link="kitchen_walls"/>
  </joint>
  <joint name="wall_1_joint" type="fixed">
    <origin rpy="0 -0 3.14159" xyz="2.38151 -2.516 0"/>
    <parent link="kitchen_walls"/>
    <child link="kitchen_wall_1"/>
  </joint>
  <!--
    <joint name="wall_1_joint" type="fixed">
        <origin xyz="1 0.562175 0" rpy="0 0 0" />
      <parent link="kitchen_walls"/>
      <child link="kitchen_wall_1"/>
    </joint>
    -->
  <joint name="wall_2_joint" type="fixed">
    <origin rpy="0 -0 1.5708" xyz="2.87551 0 0"/>
    <parent link="kitchen_walls"/>
    <child link="kitchen_wall_2"/>
  </joint>
  <joint name="wall_3_joint" type="fixed">
    <origin rpy="0 -0 3.14159" xyz="0 2.516 0"/>
    <parent link="kitchen_walls"/>
    <child link="kitchen_wall_3"/>
  </joint>
  <joint name="wall_4_joint" type="fixed">
    <origin rpy="0 0 -1.5708" xyz="-2.87549 0.466 0"/>
    <parent link="kitchen_walls"/>
    <child link="kitchen_wall_4"/>
  </joint>
  <joint name="wall_5_joint" type="fixed">
    <origin rpy="0 -0 0.000157" xyz="-1.81385 -1.70376 0"/>
    <parent link="kitchen_walls"/>
    <child link="kitchen_wall_5"/>
  </joint>
  <joint name="wall_6_joint" type="fixed">
    <origin rpy="0 0 -1.5708" xyz="-0.65 -2.12851 0"/>
    <parent link="kitchen_walls"/>
    <child link="kitchen_wall_6"/>
  </joint>
  <joint name="wall_7_joint" type="fixed">
    <origin rpy="0 -0 3.14159" xyz="1.01271 -2.556 0"/>
    <parent link="kitchen_walls"/>
    <child link="kitchen_wall_7"/>
  </joint>
  <gazebo reference="kitchen_wall_6">
    <material>Gazebo/DarkGrey</material>
  </gazebo>
  <gazebo>
    <static>false</static>
  </gazebo>
</robot>
